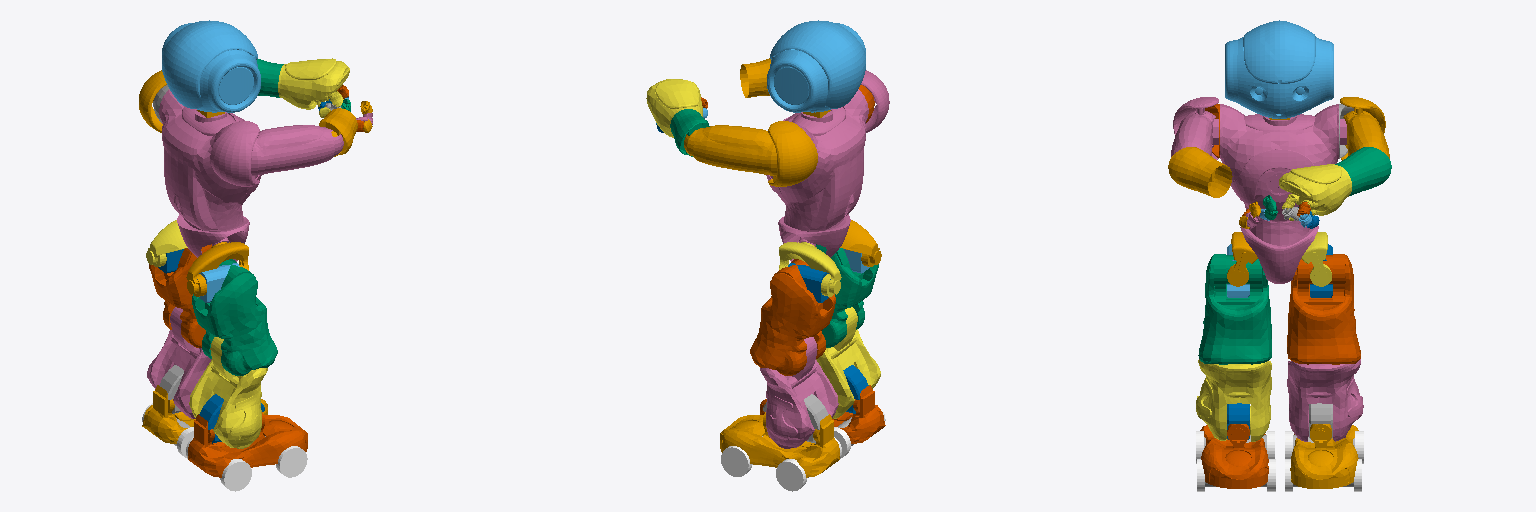
--- Render facts (derived) ---
3 views of the same robot in one strip: view 1: azimuth 30°, elevation 25°; view 2: azimuth 150°, elevation 25°; view 3: azimuth 270°, elevation 25° (orthographic).
Robot: nao — 96 links, 95 joints (26 revolute, 8 continuous, 61 fixed); root link nao_2/base_link; default pose: all joints at 0 but 2 set to mid-range because 0 is outside their limits (nao_2/LElbowRoll = -0.7898, nao_2/RElbowRoll = 0.7898).
Visible links, largest first — view 1: nao_2/torso, nao_2/Head, nao_2/RBicep, nao_2/RThigh, nao_2/RTibia, nao_2/r_ankle, nao_2/l_wrist, nao_2/LTibia, nao_2/LThigh, nao_2/l_ankle, nao_2/RPelvis, nao_2/LPelvis (+7 smaller); view 2: nao_2/torso, nao_2/Head, nao_2/LBicep, nao_2/LThigh, nao_2/LTibia, nao_2/l_ankle, nao_2/RTibia, nao_2/RThigh, nao_2/l_wrist, nao_2/r_ankle, nao_2/LPelvis, nao_2/RPelvis (+7 smaller); view 3: nao_2/torso, nao_2/Head, nao_2/LThigh, nao_2/RThigh, nao_2/RTibia, nao_2/LTibia, nao_2/r_ankle, nao_2/l_ankle, nao_2/l_wrist, nao_2/RForeArm, nao_2/LBicep, nao_2/RBicep (+3 smaller).
Link boxes in pixels (box(x1,y1,x2,y2)): nao_2/torso: box(159, 89, 261, 261); nao_2/Head: box(162, 20, 260, 112); nao_2/RBicep: box(210, 121, 343, 186); nao_2/RThigh: box(192, 259, 277, 375); nao_2/RTibia: box(189, 337, 267, 448); nao_2/r_ankle: box(188, 412, 307, 477); nao_2/l_wrist: box(278, 58, 349, 109); nao_2/LTibia: box(147, 307, 211, 418); nao_2/LThigh: box(149, 244, 211, 347); nao_2/l_ankle: box(142, 385, 267, 443); nao_2/RPelvis: box(186, 242, 248, 296); nao_2/LPelvis: box(146, 220, 187, 266); nao_2/torso: box(766, 89, 868, 261); nao_2/Head: box(767, 20, 865, 112); nao_2/LBicep: box(684, 121, 817, 186); nao_2/LThigh: box(750, 259, 835, 375); nao_2/LTibia: box(760, 337, 838, 448); nao_2/l_ankle: box(720, 412, 839, 477); nao_2/RTibia: box(816, 307, 880, 418); nao_2/RThigh: box(816, 244, 878, 347); nao_2/l_wrist: box(646, 79, 702, 137); nao_2/r_ankle: box(760, 385, 885, 443); nao_2/LPelvis: box(779, 242, 841, 296); nao_2/RPelvis: box(840, 220, 881, 266); nao_2/torso: box(1212, 104, 1346, 283); nao_2/Head: box(1225, 20, 1333, 118); nao_2/LThigh: box(1287, 254, 1360, 364); nao_2/RThigh: box(1198, 254, 1271, 364); nao_2/RTibia: box(1196, 359, 1271, 441); nao_2/LTibia: box(1287, 359, 1363, 441); nao_2/r_ankle: box(1200, 424, 1268, 488); nao_2/l_ankle: box(1290, 424, 1358, 488); nao_2/l_wrist: box(1279, 164, 1351, 215); nao_2/RForeArm: box(1168, 147, 1232, 197); nao_2/LBicep: box(1340, 97, 1389, 160); nao_2/RBicep: box(1171, 97, 1218, 159).
Bounding box of the posed robot: 0.2792 × 0.2719 × 0.594 m (x, y, z).
38 mesh visuals loaded from 39 distinct referenced files (38 Collada DAE); not drawn: 1 (reference not matched to a file when rendering).

robot.urdf — nao:
<?xml version="1.0" encoding="utf-8"?>
<!-- =================================================================================== -->
<!-- |    This document was autogenerated by xacro from nao_robot.xacro                | -->
<!-- |    EDITING THIS FILE BY HAND IS NOT RECOMMENDED                                 | -->
<!-- =================================================================================== -->
<!--******************************************************************
 ****** File automatically generated by generate_urdf.py script ******
 *********************************************************************-->
<robot name="nao">
  <joint name="nao_2/HeadYaw" type="revolute">
    <parent link="nao_2/torso"/>
    <child link="nao_2/Neck"/>
    <origin rpy="0 0 0" xyz="0 0 0.1265"/>
    <axis xyz="0 0 1.0"/>
    <limit effort="1.547" lower="-2.08567" upper="2.08567" velocity="8.26797"/>
  </joint>
  <link name="nao_2/Neck">
    <inertial>
      <mass value="0.06442"/>
      <inertia ixx="2.65584e-05" ixy="1.57e-09" ixz="0" iyy="2.75654e-05" iyz="-5.295e-08" izz="5.53372e-06"/>
      <origin rpy="0 0 0" xyz="-1e-05 0 -0.02742"/>
    </inertial>
    <visual>
      <geometry>
        <mesh filename="package://nao_description/nao_meshes/meshes/V40/HeadYaw.dae" scale="0.1 0.1 0.1"/>
      </geometry>
      <origin rpy="0 0 0" xyz="0 0 0"/>
    </visual>
    <collision>
      <geometry>
        <mesh filename="package://nao_description/nao_meshes/meshes/V40/HeadYaw_0.10.stl" scale="0.1 0.1 0.1"/>
      </geometry>
      <origin rpy="0 0 0" xyz="0 0 0"/>
    </collision>
  </link>
  <joint name="nao_2/HeadPitch" type="revolute">
    <parent link="nao_2/Neck"/>
    <child link="nao_2/Head"/>
    <origin rpy="0 0 0" xyz="0 0 0"/>
    <axis xyz="0 1.0 0"/>
    <limit effort="1.532" lower="-0.671952" upper="0.514872" velocity="7.19407"/>
  </joint>
  <link name="nao_2/Head">
    <inertial>
      <mass value="0.60533"/>
      <inertia ixx="0.000957766" ixy="8.78814e-06" ixz="5.33702e-06" iyy="0.000816836" iyz="-2.99579e-05" izz="0.000984976"/>
      <origin rpy="0 0 0" xyz="-0.00112 0 0.05258"/>
    </inertial>
    <visual>
      <geometry>
        <mesh filename="package://nao_description/nao_meshes/meshes/V40/HeadPitch.dae" scale="0.1 0.1 0.1"/>
      </geometry>
      <origin rpy="0 0 0" xyz="0 0 0"/>
    </visual>
    <collision>
      <geometry>
        <mesh filename="package://nao_description/nao_meshes/meshes/V40/HeadPitch_0.10.stl" scale="0.1 0.1 0.1"/>
      </geometry>
      <origin rpy="0 0 0" xyz="0 0 0"/>
    </collision>
  </link>
  <joint name="nao_2/gaze_joint" type="fixed">
    <parent link="nao_2/Head"/>
    <child link="nao_2/gaze"/>
    <origin rpy="0 0 0" xyz="0.05871 0 0.06364"/>
  </joint>
  <link name="nao_2/gaze"/>
  <joint name="nao_2/LHipYawPitch" type="revolute">
    <parent link="nao_2/torso"/>
    <child link="nao_2/LPelvis"/>
    <origin rpy="0 0 0" xyz="0 0.05 -0.085"/>
    <axis xyz="0 0.707106 -0.707106"/>
    <limit effort="3.348" lower="-1.14529" upper="0.740718" velocity="4.16174"/>
  </joint>
  <link name="nao_2/LPelvis">
    <inertial>
      <mass value="0.06981"/>
      <inertia ixx="2.3407e-05" ixy="1.07922e-06" ixz="-1.76003e-06" iyy="4.76355e-05" iyz="2.76058e-06" izz="4.97021e-05"/>
      <origin rpy="0 0 0" xyz="-0.00781 -0.01114 0.02661"/>
    </inertial>
    <visual>
      <geometry>
        <mesh filename="package://nao_description/nao_meshes/meshes/V40/LHipYawPitch.dae" scale="0.1 0.1 0.1"/>
      </geometry>
      <origin rpy="0 0 0" xyz="0 0 0"/>
    </visual>
    <collision>
      <geometry>
        <mesh filename="package://nao_description/nao_meshes/meshes/V40/LHipYawPitch_0.10.stl" scale="0.1 0.1 0.1"/>
      </geometry>
      <origin rpy="0 0 0" xyz="0 0 0"/>
    </collision>
  </link>
  <joint name="nao_2/LHipRoll" type="revolute">
    <parent link="nao_2/LPelvis"/>
    <child link="nao_2/LHip"/>
    <origin rpy="0 0 0" xyz="0 0 0"/>
    <axis xyz="1.0 0 0"/>
    <limit effort="3.348" lower="-0.379435" upper="0.79046" velocity="4.16174"/>
  </joint>
  <link name="nao_2/LHip">
    <inertial>
      <mass value="0.13053"/>
      <inertia ixx="2.41106e-05" ixy="-6.08684e-07" ixz="6.33119e-06" iyy="6.34892e-05" iyz="-1.99137e-07" izz="5.67694e-05"/>
      <origin rpy="0 0 0" xyz="-0.01549 0.00029 -0.00515"/>
    </inertial>
    <visual>
      <geometry>
        <mesh filename="package://nao_description/nao_meshes/meshes/V40/LHipRoll.dae" scale="0.1 0.1 0.1"/>
      </geometry>
      <origin rpy="0 0 0" xyz="0 0 0"/>
    </visual>
    <collision>
      <geometry>
        <mesh filename="package://nao_description/nao_meshes/meshes/V40/LHipRoll_0.10.stl" scale="0.1 0.1 0.1"/>
      </geometry>
      <origin rpy="0 0 0" xyz="0 0 0"/>
    </collision>
  </link>
  <joint name="nao_2/LHipPitch" type="revolute">
    <parent link="nao_2/LHip"/>
    <child link="nao_2/LThigh"/>
    <origin rpy="0 0 0" xyz="0 0 0"/>
    <axis xyz="0 1.0 0"/>
    <limit effort="3.023" lower="-1.53589" upper="0.48398" velocity="6.40239"/>
  </joint>
  <link name="nao_2/LThigh">
    <inertial>
      <mass value="0.38968"/>
      <inertia ixx="0.000509844" ixy="2.11296e-06" ixz="5.64129e-05" iyy="0.000465358" iyz="-7.91029e-06" izz="0.000301098"/>
      <origin rpy="0 0 0" xyz="0.00138 0.00221 -0.05373"/>
    </inertial>
    <visual>
      <geometry>
        <mesh filename="package://nao_description/nao_meshes/meshes/V40/LHipPitch.dae" scale="0.1 0.1 0.1"/>
      </geometry>
      <origin rpy="0 0 0" xyz="0 0 0"/>
    </visual>
    <collision>
      <geometry>
        <mesh filename="package://nao_description/nao_meshes/meshes/V40/LHipPitch_0.10.stl" scale="0.1 0.1 0.1"/>
      </geometry>
      <origin rpy="0 0 0" xyz="0 0 0"/>
    </collision>
  </link>
  <joint name="nao_2/LKneePitch" type="revolute">
    <parent link="nao_2/LThigh"/>
    <child link="nao_2/LTibia"/>
    <origin rpy="0 0 0" xyz="0 0 -0.1"/>
    <axis xyz="0 1.0 0"/>
    <limit effort="3.023" lower="-0.0923279" upper="2.11255" velocity="6.40239"/>
  </joint>
  <link name="nao_2/LTibia">
    <inertial>
      <mass value="0.29142"/>
      <inertia ixx="0.000470586" ixy="3.60392e-06" ixz="-2.86648e-05" iyy="0.000412654" iyz="7.13013e-06" izz="0.000185772"/>
      <origin rpy="0 0 0" xyz="0.00453 0.00225 -0.04936"/>
    </inertial>
    <visual>
      <geometry>
        <mesh filename="package://nao_description/nao_meshes/meshes/V40/LKneePitch.dae" scale="0.1 0.1 0.1"/>
      </geometry>
      <origin rpy="0 0 0" xyz="0 0 0"/>
    </visual>
    <collision>
      <geometry>
        <mesh filename="package://nao_description/nao_meshes/meshes/V40/LKneePitch_0.10.stl" scale="0.1 0.1 0.1"/>
      </geometry>
      <origin rpy="0 0 0" xyz="0 0 0"/>
    </collision>
  </link>
  <joint name="nao_2/LAnklePitch" type="revolute">
    <parent link="nao_2/LTibia"/>
    <child link="nao_2/LAnklePitch"/>
    <origin rpy="0 0 0" xyz="0 0 -0.1029"/>
    <axis xyz="0 1.0 0"/>
    <limit effort="3.023" lower="-1.18944" upper="0.922581" velocity="6.40239"/>
  </joint>
  <link name="nao_2/LAnklePitch">
    <inertial>
      <mass value="0.13416"/>
      <inertia ixx="3.22034e-05" ixy="-8.83212e-09" ixz="4.27549e-06" iyy="6.7943e-05" iyz="2.84849e-07" izz="5.48269e-05"/>
      <origin rpy="0 0 0" xyz="0.00045 0.00029 0.00685"/>
    </inertial>
    <visual>
      <geometry>
        <mesh filename="package://nao_description/nao_meshes/meshes/V40/LAnklePitch.dae" scale="0.1 0.1 0.1"/>
      </geometry>
      <origin rpy="0 0 0" xyz="0 0 0"/>
    </visual>
    <collision>
      <geometry>
        <mesh filename="package://nao_description/nao_meshes/meshes/V40/LAnklePitch_0.10.stl" scale="0.1 0.1 0.1"/>
      </geometry>
      <origin rpy="0 0 0" xyz="0 0 0"/>
    </collision>
  </link>
  <joint name="nao_2/LAnkleRoll" type="revolute">
    <parent link="nao_2/LAnklePitch"/>
    <child link="nao_2/l_ankle"/>
    <origin rpy="0 0 0" xyz="0 0 0"/>
    <axis xyz="1.0 0 0"/>
    <limit effort="3.348" lower="-0.397761" upper="0.768992" velocity="4.16174"/>
  </joint>
  <link name="nao_2/l_ankle">
    <inertial>
      <mass value="0.16184"/>
      <inertia ixx="9.78911e-05" ixy="7.88039e-06" ixz="6.1279e-06" iyy="0.000369977" iyz="1.44233e-06" izz="0.000419417"/>
      <origin rpy="0 0 0" xyz="0.02542 0.0033 -0.03239"/>
    </inertial>
    <visual>
      <geometry>
        <mesh filename="package://nao_description/nao_meshes/meshes/V40/LAnkleRoll.dae" scale="0.1 0.1 0.1"/>
      </geometry>
      <origin rpy="0 0 0" xyz="0 0 0"/>
    </visual>
    <collision>
      <geometry>
        <mesh filename="package://nao_description/nao_meshes/meshes/V40/LAnkleRoll_0.10.stl" scale="0.1 0.1 0.1"/>
      </geometry>
      <origin rpy="0 0 0" xyz="0 0 0"/>
    </collision>
  </link>
  <joint name="nao_2/LLeg_effector_fixedjoint" type="fixed">
    <parent link="nao_2/l_ankle"/>
    <child link="nao_2/l_sole"/>
    <origin rpy="0 0 0" xyz="0 0 -0.04511"/>
    <axis xyz="0 0 0"/>
  </joint>
  <link name="nao_2/l_sole"/>
  <joint name="nao_2/base_left_motor_joint" type="fixed">
    <origin rpy="0 0 0" xyz="-0.02 0 0"/>
    <parent link="nao_2/l_sole"/>
    <child link="nao_2/left_motor"/>
  </joint>
  <link name="nao_2/left_motor">
    <inertial>
      <origin xyz="0.0 0 0"/>
      <mass value="0.1"/>
      <inertia ixx="0.001" ixy="0.0" ixz="0.0" iyy="0.001" iyz="0.0" izz="0.001"/>
    </inertial>
    <visual>
      <origin rpy="1.5707 0 0" xyz="0 0.005 0"/>
      <geometry>
        <cylinder length="0.078" radius="0.015"/>
      </geometry>
      <material name="gray">
        <color rgba="0.75 0.75 0.75 1"/>
      </material>
    </visual>
    <collision>
      <origin rpy="1.5707 0 0" xyz="0 0 0"/>
      <geometry>
        <cylinder length="0.078" radius="0.015"/>
      </geometry>
    </collision>
  </link>
  <joint name="nao_2/left_wheel_joint_r" type="continuous">
    <origin rpy="0 0 0" xyz="0 -0.039 0"/>
    <parent link="nao_2/left_motor"/>
    <child link="nao_2/left_wheel_link_r"/>
    <axis xyz="0 1 0"/>
  </joint>
  <link name="nao_2/left_wheel_link_r">
    <inertial>
      <origin xyz="0 0 0"/>
      <mass value="0.01"/>
      <inertia ixx="0.001" ixy="0.0" ixz="0.0" iyy="0.001" iyz="0.0" izz="0.001"/>
    </inertial>
    <visual>
      <origin rpy="1.5707 0 0" xyz="0 0 0"/>
      <geometry>
        <cylinder length="0.01" radius="0.02"/>
      </geometry>
      <material name="gray">
        <color rgba="1 1 1 0.9"/>
      </material>
    </visual>
    <collision>
      <origin rpy="1.5707 0 0" xyz="0 0 0"/>
      <geometry>
        <cylinder length="0.01" radius="0.02"/>
      </geometry>
    </collision>
  </link>
  <joint name="nao_2/left_wheel_joint_l" type="continuous">
    <origin rpy="0 0 0" xyz="0 0.047 0"/>
    <parent link="nao_2/left_motor"/>
    <child link="nao_2/left_wheel_link_l"/>
    <axis xyz="0 1 0"/>
  </joint>
  <link name="nao_2/left_wheel_link_l">
    <inertial>
      <origin xyz="0 0 0"/>
      <mass value="0.01"/>
      <inertia ixx="0.001" ixy="0.0" ixz="0.0" iyy="0.001" iyz="0.0" izz="0.001"/>
    </inertial>
    <visual>
      <origin rpy="1.5707 0 0" xyz="0 0 0"/>
      <geometry>
        <cylinder length="0.01" radius="0.02"/>
      </geometry>
      <material name="gray">
        <color rgba="1 1 1 0.9"/>
      </material>
    </visual>
    <collision>
      <origin rpy="1.5707 0 0" xyz="0 0 0"/>
      <geometry>
        <cylinder length="0.01" radius="0.02"/>
      </geometry>
    </collision>
  </link>
  <joint name="nao_2/front_left_motor_joint" type="fixed">
    <origin rpy="0 0 0" xyz="0.06 0 0"/>
    <parent link="nao_2/l_sole"/>
    <child link="nao_2/front_left_motor"/>
  </joint>
  <link name="nao_2/front_left_motor">
    <inertial>
      <origin xyz="0.0 0 0"/>
      <mass value="0.1"/>
      <inertia ixx="0.00001" ixy="0.0" ixz="0.0" iyy="0.00001" iyz="0.0" izz="0.00001"/>
    </inertial>
    <visual>
      <origin rpy="1.5707 0 0" xyz="0 0.003 0"/>
      <geometry>
        <cylinder length="0.08" radius="0.015"/>
      </geometry>
      <material name="gray">
        <color rgba="0.75 0.75 0.75 1"/>
      </material>
    </visual>
    <collision>
      <origin rpy="1.5707 0 0" xyz="0 0 0"/>
      <geometry>
        <cylinder length="0.078" radius="0.015"/>
      </geometry>
    </collision>
  </link>
  <joint name="nao_2/front_left_wheel_joint_r" type="continuous">
    <origin rpy="0 0 0" xyz="0 -0.039 0"/>
    <parent link="nao_2/front_left_motor"/>
    <child link="nao_2/front_left_wheel_link_r"/>
    <axis xyz="0 1 0"/>
  </joint>
  <link name="nao_2/front_left_wheel_link_r">
    <inertial>
      <origin xyz="0 0 0"/>
      <mass value="0.01"/>
      <inertia ixx="0.001" ixy="0.0" ixz="0.0" iyy="0.001" iyz="0.0" izz="0.001"/>
    </inertial>
    <visual>
      <origin rpy="1.5707 0 0" xyz="0 0 0"/>
      <geometry>
        <cylinder length="0.01" radius="0.02"/>
      </geometry>
      <material name="gray">
        <color rgba="1 1 1 0.9"/>
      </material>
    </visual>
    <collision>
      <origin rpy="1.5707 0 0" xyz="0 0 0"/>
      <geometry>
        <cylinder length="0.01" radius="0.02"/>
      </geometry>
    </collision>
  </link>
  <joint name="nao_2/front_left_wheel_joint_l" type="continuous">
    <origin rpy="0 0 0" xyz="0 0.045 0"/>
    <parent link="nao_2/front_left_motor"/>
    <child link="nao_2/front_left_wheel_link_l"/>
    <axis xyz="0 1 0"/>
  </joint>
  <link name="nao_2/front_left_wheel_link_l">
    <inertial>
      <origin xyz="0 0 0"/>
      <mass value="0.01"/>
      <inertia ixx="0.00001" ixy="0.0" ixz="0.0" iyy="0.00001" iyz="0.0" izz="0.00001"/>
    </inertial>
    <visual>
      <origin rpy="1.5707 0 0" xyz="0 0 0"/>
      <geometry>
        <cylinder length="0.01" radius="0.02"/>
      </geometry>
      <material name="gray">
        <color rgba="1 1 1 0.9"/>
      </material>
    </visual>
    <collision>
      <origin rpy="1.5707 0 0" xyz="0 0 0"/>
      <geometry>
        <cylinder length="0.01" radius="0.02"/>
      </geometry>
    </collision>
  </link>
  <joint name="nao_2/RHipYawPitch" type="revolute">
    <parent link="nao_2/torso"/>
    <child link="nao_2/RPelvis"/>
    <origin rpy="0 0 0" xyz="0 -0.05 -0.085"/>
    <axis xyz="0 0.707106 0.707106"/>
    <limit effort="3.348" lower="-1.14529" upper="0.740718" velocity="4.16174"/>
    <mimic joint="nao_2/LHipYawPitch" multiplier="1.0" offset="0"/>
  </joint>
  <link name="nao_2/RPelvis">
    <inertial>
      <mass value="0.06981"/>
      <inertia ixx="3.18766e-05" ixy="-1.07152e-06" ixz="-1.77295e-06" iyy="5.18361e-05" iyz="-7.00664e-06" izz="5.39657e-05"/>
      <origin rpy="0 0 0" xyz="-0.00781 0.01114 0.02661"/>
    </inertial>
    <visual>
      <geometry>
        <mesh filename="package://nao_description/nao_meshes/meshes/V40/RHipYawPitch.dae" scale="0.1 0.1 0.1"/>
      </geometry>
      <origin rpy="0 0 0" xyz="0 0 0"/>
    </visual>
    <collision>
      <geometry>
        <mesh filename="package://nao_description/nao_meshes/meshes/V40/RHipYawPitch_0.10.stl" scale="0.1 0.1 0.1"/>
      </geometry>
      <origin rpy="0 0 0" xyz="0 0 0"/>
    </collision>
  </link>
  <joint name="nao_2/RHipRoll" type="revolute">
    <parent link="nao_2/RPelvis"/>
    <child link="nao_2/RHip"/>
    <origin rpy="0 0 0" xyz="0 0 0"/>
    <axis xyz="1.0 0 0"/>
    <limit effort="3.348" lower="-0.79046" upper="0.379435" velocity="4.16174"/>
  </joint>
  <link name="nao_2/RHip">
    <inertial>
      <mass value="0.13053"/>
      <inertia ixx="2.41136e-05" ixy="5.67164e-07" ixz="6.30461e-06" iyy="6.34886e-05" iyz="1.97457e-07" izz="5.6773e-05"/>
      <origin rpy="0 0 0" xyz="-0.01549 -0.00029 -0.00515"/>
    </inertial>
    <visual>
      <geometry>
        <mesh filename="package://nao_description/nao_meshes/meshes/V40/RHipRoll.dae" scale="0.1 0.1 0.1"/>
      </geometry>
      <origin rpy="0 0 0" xyz="0 0 0"/>
    </visual>
    <collision>
      <geometry>
        <mesh filename="package://nao_description/nao_meshes/meshes/V40/RHipRoll_0.10.stl" scale="0.1 0.1 0.1"/>
      </geometry>
      <origin rpy="0 0 0" xyz="0 0 0"/>
    </collision>
  </link>
  <joint name="nao_2/RHipPitch" type="revolute">
    <parent link="nao_2/RHip"/>
    <child link="nao_2/RThigh"/>
    <origin rpy="0 0 0" xyz="0 0 0"/>
    <axis xyz="0 1.0 0"/>
    <limit effort="3.0226" lower="-1.53589" upper="0.48398" velocity="6.40239"/>
  </joint>
  <link name="nao_2/RThigh">
    <inertial>
      <mass value="0.38968"/>
      <inertia ixx="0.000510607" ixy="-2.02799e-06" ixz="5.69893e-05" iyy="0.0004665" iyz="7.09563e-06" izz="0.000301333"/>
      <origin rpy="0 0 0" xyz="0.00138 -0.00221 -0.05373"/>
    </inertial>
    <visual>
      <geometry>
        <mesh filename="package://nao_description/nao_meshes/meshes/V40/RHipPitch.dae" scale="0.1 0.1 0.1"/>
      </geometry>
      <origin rpy="0 0 0" xyz="0 0 0"/>
    </visual>
    <collision>
      <geometry>
        <mesh filename="package://nao_description/nao_meshes/meshes/V40/RHipPitch_0.10.stl" scale="0.1 0.1 0.1"/>
      </geometry>
      <origin rpy="0 0 0" xyz="0 0 0"/>
    </collision>
  </link>
  <joint name="nao_2/RKneePitch" type="revolute">
    <parent link="nao_2/RThigh"/>
    <child link="nao_2/RTibia"/>
    <origin rpy="0 0 0" xyz="0 0 -0.1"/>
    <axis xyz="0 1.0 0"/>
    <limit effort="3.0226" lower="-0.0923279" upper="2.11255" velocity="6.40239"/>
  </joint>
  <link name="nao_2/RTibia">
    <inertial>
      <mass value="0.29142"/>
      <inertia ixx="0.000471336" ixy="-3.8668e-06" ixz="-3.71648e-05" iyy="0.00041228" iyz="-6.11093e-06" izz="0.000183997"/>
      <origin rpy="0 0 0" xyz="0.00453 -0.00225 -0.04936"/>
    </inertial>
    <visual>
      <geometry>
        <mesh filename="package://nao_description/nao_meshes/meshes/V40/RKneePitch.dae" scale="0.1 0.1 0.1"/>
      </geometry>
      <origin rpy="0 0 0" xyz="0 0 0"/>
    </visual>
    <collision>
      <geometry>
        <mesh filename="package://nao_description/nao_meshes/meshes/V40/RKneePitch_0.10.stl" scale="0.1 0.1 0.1"/>
      </geometry>
      <origin rpy="0 0 0" xyz="0 0 0"/>
    </collision>
  </link>
  <joint name="nao_2/RAnklePitch" type="revolute">
    <parent link="nao_2/RTibia"/>
    <child link="nao_2/RAnklePitch"/>
    <origin rpy="0 0 0" xyz="0 0 -0.1029"/>
    <axis xyz="0 1.0 0"/>
    <limit effort="3.0226" lower="-1.1863" upper="0.932006" velocity="6.40239"/>
  </joint>
  <link name="nao_2/RAnklePitch">
    <inertial>
      <mass value="0.13416"/>
      <inertia ixx="3.22017e-05" ixy="4.68321e-08" ixz="4.28821e-06" iyy="6.79885e-05" iyz="-2.71089e-07" izz="5.48747e-05"/>
      <origin rpy="0 0 0" xyz="0.00045 -0.00029 0.00685"/>
    </inertial>
    <visual>
      <geometry>
        <mesh filename="package://nao_description/nao_meshes/meshes/V40/RAnklePitch.dae" scale="0.1 0.1 0.1"/>
      </geometry>
      <origin rpy="0 0 0" xyz="0 0 0"/>
    </visual>
    <collision>
      <geometry>
        <mesh filename="package://nao_description/nao_meshes/meshes/V40/RAnklePitch_0.10.stl" scale="0.1 0.1 0.1"/>
      </geometry>
      <origin rpy="0 0 0" xyz="0 0 0"/>
    </collision>
  </link>
  <joint name="nao_2/RAnkleRoll" type="revolute">
    <parent link="nao_2/RAnklePitch"/>
    <child link="nao_2/r_ankle"/>
    <origin rpy="0 0 0" xyz="0 0 0"/>
    <axis xyz="1.0 0 0"/>
    <limit effort="3.348" lower="-0.768992" upper="0.397761" velocity="4.16174"/>
  </joint>
  <link name="nao_2/r_ankle">
    <inertial>
      <mass value="0.16184"/>
      <inertia ixx="9.77513e-05" ixy="-7.70106e-06" ixz="5.88169e-06" iyy="0.000369108" iyz="-1.55058e-06" izz="0.000418695"/>
      <origin rpy="0 0 0" xyz="0.02542 -0.0033 -0.03239"/>
    </inertial>
    <visual>
      <geometry>
        <mesh filename="package://nao_description/nao_meshes/meshes/V40/RAnkleRoll.dae" scale="0.1 0.1 0.1"/>
      </geometry>
      <origin rpy="0 0 0" xyz="0 0 0"/>
    </visual>
    <collision>
      <geometry>
        <mesh filename="package://nao_description/nao_meshes/meshes/V40/RAnkleRoll_0.10.stl" scale="0.1 0.1 0.1"/>
      </geometry>
      <origin rpy="0 0 0" xyz="0 0 0"/>
    </collision>
  </link>
  <joint name="nao_2/RLeg_effector_fixedjoint" type="fixed">
    <parent link="nao_2/r_ankle"/>
    <child link="nao_2/r_sole"/>
    <origin rpy="0 0 0" xyz="0 0 -0.04511"/>
    <axis xyz="0 0 0"/>
  </joint>
  <link name="nao_2/r_sole"/>
  <joint name="nao_2/base_right_motor_joint" type="fixed">
    <origin rpy="0 0 0" xyz="-0.02 0 0"/>
    <parent link="nao_2/r_sole"/>
    <child link="nao_2/right_motor"/>
  </joint>
  <link name="nao_2/right_motor">
    <inertial>
      <origin xyz="0.0 0 0"/>
      <mass value="0.1"/>
      <inertia ixx="0.001" ixy="0.0" ixz="0.0" iyy="0.001" iyz="0.0" izz="0.001"/>
    </inertial>
    <visual>
      <origin rpy="1.5707 0 0" xyz="0 -0.003 0"/>
      <geometry>
        <cylinder length="0.078" radius="0.015"/>
      </geometry>
      <material name="gray">
        <color rgba="0.75 0.75 0.75 1"/>
      </material>
    </visual>
    <collision>
      <origin rpy="1.5707 0 0" xyz="0 0 0"/>
      <geometry>
        <cylinder length="0.078" radius="0.015"/>
      </geometry>
    </collision>
  </link>
  <joint name="nao_2/right_wheel_joint_r" type="continuous">
    <origin rpy="0 0 0" xyz="0 -0.0498 0"/>
    <parent link="nao_2/right_motor"/>
    <child link="nao_2/right_wheel_link_r"/>
    <axis xyz="0 1 0"/>
  </joint>
  <link name="nao_2/right_wheel_link_r">
    <inertial>
      <origin xyz="0 0 0"/>
      <mass value="0.01"/>
      <inertia ixx="0.001" ixy="0.0" ixz="0.0" iyy="0.001" iyz="0.0" izz="0.001"/>
    </inertial>
    <visual>
      <origin rpy="1.5707 0 0" xyz="0 0.003 0"/>
      <geometry>
        <cylinder length="0.01" radius="0.02"/>
      </geometry>
      <material name="gray">
        <color rgba="1 1 1 0.9"/>
      </material>
    </visual>
    <collision>
      <origin rpy="1.5707 0 0" xyz="0 0 0"/>
      <geometry>
        <cylinder length="0.01" radius="0.02"/>
      </geometry>
    </collision>
  </link>
  <joint name="nao_2/right_wheel_joint_l" type="continuous">
    <origin rpy="0 0 0" xyz="0 0.039 0"/>
    <parent link="nao_2/right_motor"/>
    <child link="nao_2/right_wheel_link_l"/>
    <axis xyz="0 1 0"/>
  </joint>
  <link name="nao_2/right_wheel_link_l">
    <inertial>
      <origin xyz="0 0 0"/>
      <mass value="0.01"/>
      <inertia ixx="0.001" ixy="0.0" ixz="0.0" iyy="0.001" iyz="0.0" izz="0.001"/>
    </inertial>
    <visual>
      <origin rpy="1.5707 0 0" xyz="0 0 0"/>
      <geometry>
        <cylinder length="0.01" radius="0.02"/>
      </geometry>
      <material name="gray">
        <color rgba="1 1 1 0.9"/>
      </material>
    </visual>
    <collision>
      <origin rpy="1.5707 0 0" xyz="0 0 0"/>
      <geometry>
        <cylinder length="0.01" radius="0.02"/>
      </geometry>
    </collision>
  </link>
  <joint name="nao_2/front_right_motor_joint" type="fixed">
    <origin rpy="0 0 0" xyz="0.06 0 0"/>
    <parent link="nao_2/r_sole"/>
    <child link="nao_2/front_right_motor"/>
  </joint>
  <link name="nao_2/front_right_motor">
    <inertial>
      <origin xyz="0.0 0 0"/>
      <mass value="0.1"/>
      <inertia ixx="0.00001" ixy="0.0" ixz="0.0" iyy="0.00001" iyz="0.0" izz="0.00001"/>
    </inertial>
    <visual>
      <origin rpy="1.5707 0 0" xyz="0 -0.003 0"/>
      <geometry>
        <cylinder length="0.08" radius="0.015"/>
      </geometry>
      <material name="gray">
        <color rgba="0.75 0.75 0.75 1"/>
      </material>
    </visual>
    <collision>
      <origin rpy="1.5707 0 0" xyz="0 0 0"/>
      <geometry>
        <cylinder length="0.078" radius="0.015"/>
      </geometry>
    </collision>
  </link>
  <joint name="nao_2/front_right_wheel_joint_r" type="continuous">
    <origin rpy="0 0 0" xyz="0 -0.046 0"/>
    <parent link="nao_2/front_right_motor"/>
    <child link="nao_2/front_right_wheel_link_r"/>
    <axis xyz="0 1 0"/>
  </joint>
  <link name="nao_2/front_right_wheel_link_r">
    <inertial>
      <origin xyz="0 0 0"/>
      <mass value="0.01"/>
      <inertia ixx="0.001" ixy="0.0" ixz="0.0" iyy="0.001" iyz="0.0" izz="0.001"/>
    </inertial>
    <visual>
      <origin rpy="1.5707 0 0" xyz="0 0 0"/>
      <geometry>
        <cylinder length="0.01" radius="0.02"/>
      </geometry>
      <material name="gray">
        <color rgba="1 1 1 0.9"/>
      </material>
    </visual>
    <collision>
      <origin rpy="1.5707 0 0" xyz="0 0 0"/>
      <geometry>
        <cylinder length="0.01" radius="0.02"/>
      </geometry>
    </collision>
  </link>
  <joint name="nao_2/front_right_wheel_joint_l" type="continuous">
    <origin rpy="0 0 0" xyz="0 0.040 0"/>
    <parent link="nao_2/front_right_motor"/>
    <child link="nao_2/front_right_wheel_link_l"/>
    <axis xyz="0 1 0"/>
  </joint>
  <link name="nao_2/front_right_wheel_link_l">
    <inertial>
      <origin xyz="0 0 0"/>
      <mass value="0.01"/>
      <inertia ixx="0.00001" ixy="0.0" ixz="0.0" iyy="0.00001" iyz="0.0" izz="0.00001"/>
    </inertial>
    <visual>
      <origin rpy="1.5707 0 0" xyz="0 0 0"/>
      <geometry>
        <cylinder length="0.01" radius="0.02"/>
      </geometry>
      <material name="gray">
        <color rgba="1 1 1 0.9"/>
      </material>
    </visual>
    <collision>
      <origin rpy="1.5707 0 0" xyz="0 0 0"/>
      <geometry>
        <cylinder length="0.01" radius="0.02"/>
      </geometry>
    </collision>
  </link>
  <link name="nao_2/base_link"/>
  <joint name="nao_2/base_link_fixedjoint" type="fixed">
    <parent link="nao_2/base_link"/>
    <child link="nao_2/torso"/>
    <origin rpy="0 0 0" xyz="0 0 0"/>
    <axis xyz="0 0 0"/>
  </joint>
  <link name="nao_2/torso">
    <inertial>
      <mass value="1.04956"/>
      <inertia ixx="0.00308361" ixy="1.43116e-05" ixz="-3.30211e-05" iyy="0.0028835" iyz="-2.70793e-05" izz="0.0015924"/>
      <origin rpy="0 0 0" xyz="-0.00413 0 0.04342"/>
    </inertial>
    <visual>
      <geometry>
        <mesh filename="package://nao_description/nao_meshes/meshes/V40/Torso.dae" scale="0.1 0.1 0.1"/>
      </geometry>
      <origin rpy="0 0 0" xyz="0 0 0"/>
    </visual>
    <collision>
      <geometry>
        <mesh filename="package://nao_description/nao_meshes/meshes/V40/Torso_0.10.stl" scale="0.1 0.1 0.1"/>
      </geometry>
      <origin rpy="0 0 0" xyz="0 0 0"/>
    </collision>
  </link>
  <joint name="nao_2/LShoulderPitch" type="revolute">
    <parent link="nao_2/torso"/>
    <child link="nao_2/LShoulder"/>
    <origin rpy="0 0 0" xyz="0 0.098 0.1"/>
    <axis xyz="0 1.0 0"/>
    <limit effort="1.329" lower="-2.08567" upper="2.08567" velocity="8.26797"/>
  </joint>
  <link name="nao_2/LShoulder">
    <inertial>
      <mass value="0.07504"/>
      <inertia ixx="3.10677e-05" ixy="1.2692e-06" ixz="6.04576e-09" iyy="1.39498e-05" iyz="-2.99484e-07" izz="3.30001e-05"/>
      <origin rpy="0 0 0" xyz="-0.00165 -0.02663 0.00014"/>
    </inertial>
    <visual>
      <geometry>
        <mesh filename="package://nao_description/nao_meshes/meshes/V40/LShoulderPitch.dae" scale="0.1 0.1 0.1"/>
      </geometry>
      <origin rpy="0 0 0" xyz="0 0 0"/>
    </visual>
    <collision>
      <geometry>
        <mesh filename="package://nao_description/nao_meshes/meshes/V40/LShoulderPitch_0.10.stl" scale="0.1 0.1 0.1"/>
      </geometry>
      <origin rpy="0 0 0" xyz="0 0 0"/>
    </collision>
  </link>
  <joint name="nao_2/LShoulderRoll" type="revolute">
    <parent link="nao_2/LShoulder"/>
    <child link="nao_2/LBicep"/>
    <origin rpy="0 0 0" xyz="0 0 0"/>
    <axis xyz="0 0 1.0"/>
    <limit effort="1.7835" lower="-0.314159" upper="1.32645" velocity="7.19407"/>
  </joint>
  <link name="nao_2/LBicep">
    <inertial>
      <mass value="0.15777"/>
      <inertia ixx="8.7181e-05" ixy="-2.53381e-05" ixz="-1.4213e-05" iyy="0.000274712" iyz="4.71439e-07" izz="0.000241812"/>
      <origin rpy="0 0 0" xyz="0.02455 0.00563 0.0033"/>
    </inertial>
    <visual>
      <geometry>
        <mesh filename="package://nao_description/nao_meshes/meshes/V40/LShoulderRoll.dae" scale="0.1 0.1 0.1"/>
      </geometry>
      <origin rpy="0 0 0" xyz="0 0 0"/>
    </visual>
    <collision>
      <geometry>
        <mesh filename="package://nao_description/nao_meshes/meshes/V40/LShoulderRoll_0.10.stl" scale="0.1 0.1 0.1"/>
      </geometry>
      <origin rpy="0 0 0" xyz="0 0 0"/>
    </collision>
  </link>
  <joint name="nao_2/LElbowYaw" type="revolute">
    <parent link="nao_2/LBicep"/>
    <child link="nao_2/LElbow"/>
    <origin rpy="0 0 0" xyz="0.105 0.015 0"/>
    <axis xyz="1.0 0 0"/>
    <limit effort="1.547" lower="-2.08567" upper="2.08567" velocity="8.26797"/>
  </joint>
  <link name="nao_2/LElbow">
    <inertial>
      <mass value="0.06483"/>
      <inertia ixx="5.59588e-06" ixy="4.21e-09" ixz="2.92241e-07" iyy="2.66179e-05" iyz="-1.84e-09" izz="2.76294e-05"/>
      <origin rpy="0 0 0" xyz="-0.02744 0 -0.00014"/>
    </inertial>
  </link>
  <joint name="nao_2/LElbowRoll" type="revolute">
    <parent link="nao_2/LElbow"/>
    <child link="nao_2/LForeArm"/>
    <origin rpy="0 0 0" xyz="0 0 0"/>
    <axis xyz="0 0 1.0"/>
    <limit effort="1.532" lower="-1.54462" upper="-0.0349066" velocity="7.19407"/>
  </joint>
  <link name="nao_2/LForeArm">
    <inertial>
      <mass value="0.07761"/>
      <inertia ixx="2.46746e-05" ixy="3.23152e-06" ixz="1.58221e-06" iyy="3.83837e-05" iyz="1.39194e-07" izz="3.59708e-05"/>
      <origin rpy="0 0 0" xyz="0.02556 0.00281 0.00076"/>
    </inertial>
    <visual>
      <geometry>
        <mesh filename="package://nao_description/nao_meshes/meshes/V40/LElbowRoll.dae" scale="0.1 0.1 0.1"/>
      </geometry>
      <origin rpy="0 0 0" xyz="0 0 0"/>
    </visual>
    <collision>
      <geometry>
        <mesh filename="package://nao_description/nao_meshes/meshes/V40/LElbowRoll_0.10.stl" scale="0.1 0.1 0.1"/>
      </geometry>
      <origin rpy="0 0 0" xyz="0 0 0"/>
    </collision>
  </link>
  <joint name="nao_2/LWristYaw" type="revolute">
    <parent link="nao_2/LForeArm"/>
    <child link="nao_2/l_wrist"/>
    <origin rpy="0 0 0" xyz="0.05595 0 0"/>
    <axis xyz="1.0 0 0"/>
    <limit effort="0.4075" lower="-1.82387" upper="1.82387" velocity="24.6229"/>
  </joint>
  <link name="nao_2/l_wrist">
    <inertial>
      <mass value="0.18533"/>
      <inertia ixx="6.86477e-05" ixy="1.15465e-07" ixz="-2.87254e-06" iyy="0.000135756" iyz="2.67539e-06" izz="0.000133228"/>
      <origin rpy="0 0 0" xyz="0.03434 -0.00088 0.00308"/>
    </inertial>
    <visual>
      <geometry>
        <mesh filename="package://nao_description/nao_meshes/meshes/V40/LWristYaw.dae" scale="0.1 0.1 0.1"/>
      </geometry>
      <origin rpy="0 0 0" xyz="0 0 0"/>
    </visual>
    <collision>
      <geometry>
        <mesh filename="package://nao_description/nao_meshes/meshes/V40/LWristYaw_0.10.stl" scale="0.1 0.1 0.1"/>
      </geometry>
      <origin rpy="0 0 0" xyz="0 0 0"/>
    </collision>
  </link>
  <joint name="nao_2/LHand" type="revolute">
    <parent link="nao_2/l_wrist"/>
    <child link="nao_2/l_gripper"/>
    <origin rpy="0 0 0" xyz="0.05775 0 -0.01231"/>
    <axis xyz="1.0 0 0"/>
    <limit effort="0.292" lower="0" upper="1.0" velocity="8.33"/>
  </joint>
  <link name="nao_2/l_gripper">
    <inertial>
      <mass value="2e-06"/>
      <inertia ixx="1.1e-09" ixy="0" ixz="0" iyy="1.1e-09" iyz="0" izz="1.1e-09"/>
    </inertial>
  </link>
  <joint name="nao_2/RShoulderPitch" type="revolute">
    <parent link="nao_2/torso"/>
    <child link="nao_2/RShoulder"/>
    <origin rpy="0 0 0" xyz="0 -0.098 0.1"/>
    <axis xyz="0 1.0 0"/>
    <limit effort="1.329" lower="-2.08567" upper="2.08567" velocity="8.26797"/>
  </joint>
  <link name="nao_2/RShoulder">
    <inertial>
      <mass value="0.07504"/>
      <inertia ixx="3.10677e-05" ixy="-1.2692e-06" ixz="6.04576e-09" iyy="1.39498e-05" iyz="2.99484e-07" izz="3.30001e-05"/>
      <origin rpy="0 0 0" xyz="-0.00165 0.02663 0.00014"/>
    </inertial>
    <visual>
      <geometry>
        <mesh filename="package://nao_description/nao_meshes/meshes/V40/RShoulderPitch.dae" scale="0.1 0.1 0.1"/>
      </geometry>
      <origin rpy="0 0 0" xyz="0 0 0"/>
    </visual>
    <collision>
      <geometry>
        <mesh filename="package://nao_description/nao_meshes/meshes/V40/RShoulderPitch_0.10.stl" scale="0.1 0.1 0.1"/>
      </geometry>
      <origin rpy="0 0 0" xyz="0 0 0"/>
    </collision>
  </link>
  <joint name="nao_2/RShoulderRoll" type="revolute">
    <parent link="nao_2/RShoulder"/>
    <child link="nao_2/RBicep"/>
    <origin rpy="0 0 0" xyz="0 0 0"/>
    <axis xyz="0 0 1.0"/>
    <limit effort="1.783" lower="-1.32645" upper="0.314159" velocity="7.19407"/>
  </joint>
  <link name="nao_2/RBicep">
    <inertial>
      <mass value="0.15777"/>
      <inertia ixx="0.000103401" ixy="5.48849e-05" ixz="-1.32643e-05" iyy="0.00027077" iyz="9.16707e-06" izz="0.000254529"/>
      <origin rpy="0 0 0" xyz="0.02455 -0.00563 0.0033"/>
    </inertial>
    <visual>
      <geometry>
        <mesh filename="package://nao_description/nao_meshes/meshes/V40/RShoulderRoll.dae" scale="0.1 0.1 0.1"/>
      </geometry>
      <origin rpy="0 0 0" xyz="0 0 0"/>
    </visual>
    <collision>
      <geometry>
        <mesh filename="package://nao_description/nao_meshes/meshes/V40/RShoulderRoll_0.10.stl" scale="0.1 0.1 0.1"/>
      </geometry>
      <origin rpy="0 0 0" xyz="0 0 0"/>
    </collision>
  </link>
  <joint name="nao_2/RElbowYaw" type="revolute">
    <parent link="nao_2/RBicep"/>
    <child link="nao_2/RElbow"/>
    <origin rpy="0 0 0" xyz="0.105 -0.015 0"/>
    <axis xyz="1.0 0 0"/>
    <limit effort="1.547" lower="-2.08567" upper="2.08567" velocity="8.26797"/>
  </joint>
  <link name="nao_2/RElbow">
    <inertial>
      <mass value="0.06483"/>
      <inertia ixx="5.59588e-06" ixy="4.21e-09" ixz="2.92241e-07" iyy="2.66179e-05" iyz="-1.84e-09" izz="2.76294e-05"/>
      <origin rpy="0 0 0" xyz="-0.02744 0 -0.00014"/>
    </inertial>
  </link>
  <joint name="nao_2/RElbowRoll" type="revolute">
    <parent link="nao_2/RElbow"/>
    <child link="nao_2/RForeArm"/>
    <origin rpy="0 0 0" xyz="0 0 0"/>
    <axis xyz="0 0 1.0"/>
    <limit effort="1.532" lower="0.0349066" upper="1.54462" velocity="7.19407"/>
  </joint>
  <link name="nao_2/RForeArm">
    <inertial>
      <mass value="0.07761"/>
      <inertia ixx="2.47331e-05" ixy="-3.2418e-06" ixz="9.06451e-07" iyy="3.84719e-05" iyz="-1.38804e-07" izz="3.59319e-05"/>
      <origin rpy="0 0 0" xyz="0.02556 -0.00281 0.00076"/>
    </inertial>
    <visual>
      <geometry>
        <mesh filename="package://nao_description/nao_meshes/meshes/V40/RElbowRoll.dae" scale="0.1 0.1 0.1"/>
      </geometry>
      <origin rpy="0 0 0" xyz="0 0 0"/>
    </visual>
    <collision>
      <geometry>
        <mesh filename="package://nao_description/nao_meshes/meshes/V40/RElbowRoll_0.10.stl" scale="0.1 0.1 0.1"/>
      </geometry>
      <origin rpy="0 0 0" xyz="0 0 0"/>
    </collision>
  </link>
  <joint name="nao_2/RWristYaw" type="revolute">
    <parent link="nao_2/RForeArm"/>
    <child link="nao_2/r_wrist"/>
    <origin rpy="0 0 0" xyz="0.05595 0 0"/>
    <axis xyz="1.0 0 0"/>
    <limit effort="0.4075" lower="-1.82387" upper="1.82387" velocity="24.6229"/>
  </joint>
  <link name="nao_2/r_wrist">
    <inertial>
      <mass value="0.18533"/>
      <inertia ixx="6.86477e-05" ixy="1.13165e-05" ixz="-2.87254e-06" iyy="0.000135756" iyz="3.68003e-06" izz="0.000133228"/>
      <origin rpy="0 0 0" xyz="0.03434 0.00088 0.00308"/>
    </inertial>
    <visual>
      <geometry>
        <mesh filename="package://nao_description/nao_meshes/meshes/V40/RWristYaw.dae" scale="0.1 0.1 0.1"/>
      </geometry>
      <origin rpy="0 0 0" xyz="0 0 0"/>
    </visual>
    <collision>
      <geometry>
        <mesh filename="package://nao_description/nao_meshes/meshes/V40/RWristYaw_0.10.stl" scale="0.1 0.1 0.1"/>
      </geometry>
      <origin rpy="0 0 0" xyz="0 0 0"/>
    </collision>
  </link>
  <joint name="nao_2/RHand" type="revolute">
    <parent link="nao_2/r_wrist"/>
    <child link="nao_2/r_gripper"/>
    <origin rpy="0 0 0" xyz="0.05775 0 -0.01231"/>
    <axis xyz="1.0 0 0"/>
    <limit effort="0.292" lower="0" upper="1.0" velocity="8.33"/>
  </joint>
  <link name="nao_2/r_gripper">
    <inertial>
      <mass value="2e-06"/>
      <inertia ixx="1.1e-09" ixy="0" ixz="0" iyy="1.1e-09" iyz="0" izz="1.1e-09"/>
    </inertial>
  </link>
  <link name="nao_2/LFootBumperRight_frame"/>
  <joint name="nao_2/LFoot/Bumper/Right_sensor_fixedjoint" type="fixed">
    <parent link="nao_2/l_ankle"/>
    <child link="nao_2/LFootBumperRight_frame"/>
    <origin rpy="0 0 0" xyz="0.0876 -0.014 -0.0353"/>
    <axis xyz="0 0 0"/>
  </joint>
  <link name="nao_2/RFsrRL_frame">
    <collision>
      <geometry>
        <box size="0.01 0.01 0.005"/>
      </geometry>
      <origin rpy="0 0 0" xyz="0 0 0"/>
    </collision>
    <inertial>
      <mass value="2e-06"/>
      <inertia ixx="1.1e-09" ixy="0" ixz="0" iyy="1.1e-09" iyz="0" izz="1.1e-09"/>
    </inertial>
  </link>
  <joint name="nao_2/RFoot/FSR/RearLeft_sensor_fixedjoint" type="fixed">
    <parent link="nao_2/r_ankle"/>
    <child link="nao_2/RFsrRL_frame"/>
    <origin rpy="0 0 0" xyz="-0.03025 0.0191 -0.04511"/>
    <axis xyz="0 0 0"/>
  </joint>
  <link name="nao_2/CameraBottom_optical_frame"/>
  <joint name="nao_2/CameraBottom_optical_frame_fixedjoint" type="fixed">
    <parent link="nao_2/CameraBottom_frame"/>
    <child link="nao_2/CameraBottom_optical_frame"/>
    <origin rpy="-1.57079632679 0 -1.57079632679" xyz="0 0 0"/>
  </joint>
  <link name="nao_2/RFsrRR_frame">
    <collision>
      <geometry>
        <box size="0.01 0.01 0.005"/>
      </geometry>
      <origin rpy="0 0 0" xyz="0 0 0"/>
    </collision>
    <inertial>
      <mass value="2e-06"/>
      <inertia ixx="1.1e-09" ixy="0" ixz="0" iyy="1.1e-09" iyz="0" izz="1.1e-09"/>
    </inertial>
  </link>
  <joint name="nao_2/RFoot/FSR/RearRight_sensor_fixedjoint" type="fixed">
    <parent link="nao_2/r_ankle"/>
    <child link="nao_2/RFsrRR_frame"/>
    <origin rpy="0 0 0" xyz="-0.02965 -0.0299 -0.04511"/>
    <axis xyz="0 0 0"/>
  </joint>
  <link name="nao_2/LFsrFR_frame">
    <collision>
      <geometry>
        <box size="0.01 0.01 0.005"/>
      </geometry>
      <origin rpy="0 0 0" xyz="0 0 0"/>
    </collision>
    <inertial>
      <mass value="2e-06"/>
      <inertia ixx="1.1e-09" ixy="0" ixz="0" iyy="1.1e-09" iyz="0" izz="1.1e-09"/>
    </inertial>
  </link>
  <joint name="nao_2/LFoot/FSR/FrontRight_sensor_fixedjoint" type="fixed">
    <parent link="nao_2/l_ankle"/>
    <child link="nao_2/LFsrFR_frame"/>
    <origin rpy="0 0 0" xyz="0.07025 -0.0231 -0.04511"/>
    <axis xyz="0 0 0"/>
  </joint>
  <link name="nao_2/LHandTouchBack_frame"/>
  <joint name="nao_2/LHand/Touch/Back_sensor_fixedjoint" type="fixed">
    <parent link="nao_2/l_wrist"/>
    <child link="nao_2/LHandTouchBack_frame"/>
    <origin rpy="3.14159 -1.5708 3.14159" xyz="0.038 0 0.025"/>
    <axis xyz="0 0 0"/>
  </joint>
  <link name="nao_2/LHandTouchLeft_frame"/>
  <joint name="nao_2/LHand/Touch/Left_sensor_fixedjoint" type="fixed">
    <parent link="nao_2/l_wrist"/>
    <child link="nao_2/LHandTouchLeft_frame"/>
    <origin rpy="0 0 1.5708" xyz="0.032 0.025 0.003"/>
    <axis xyz="0 0 0"/>
  </joint>
  <link name="nao_2/RFootBumperRight_frame"/>
  <joint name="nao_2/RFoot/Bumper/Right_sensor_fixedjoint" type="fixed">
    <parent link="nao_2/r_ankle"/>
    <child link="nao_2/RFootBumperRight_frame"/>
    <origin rpy="0 0 0" xyz="0.0876 -0.019 -0.0353"/>
    <axis xyz="0 0 0"/>
  </joint>
  <link name="nao_2/RFsrFR_frame">
    <collision>
      <geometry>
        <box size="0.01 0.01 0.005"/>
      </geometry>
      <origin rpy="0 0 0" xyz="0 0 0"/>
    </collision>
    <inertial>
      <mass value="2e-06"/>
      <inertia ixx="1.1e-09" ixy="0" ixz="0" iyy="1.1e-09" iyz="0" izz="1.1e-09"/>
    </inertial>
  </link>
  <joint name="nao_2/RFoot/FSR/FrontRight_sensor_fixedjoint" type="fixed">
    <parent link="nao_2/r_ankle"/>
    <child link="nao_2/RFsrFR_frame"/>
    <origin rpy="0 0 0" xyz="0.07025 -0.0299 -0.04511"/>
    <axis xyz="0 0 0"/>
  </joint>
  <link name="nao_2/MicroSurroundLeft_frame"/>
  <joint name="nao_2/MicroLeft_sensor_fixedjoint" type="fixed">
    <parent link="nao_2/Head"/>
    <child link="nao_2/MicroSurroundLeft_frame"/>
    <origin rpy="0 0 0" xyz="-0.0195 0.0606 0.0331"/>
    <axis xyz="0 0 0"/>
  </joint>
  <link name="nao_2/LFsrRR_frame">
    <collision>
      <geometry>
        <box size="0.01 0.01 0.005"/>
      </geometry>
      <origin rpy="0 0 0" xyz="0 0 0"/>
    </collision>
    <inertial>
      <mass value="2e-06"/>
      <inertia ixx="1.1e-09" ixy="0" ixz="0" iyy="1.1e-09" iyz="0" izz="1.1e-09"/>
    </inertial>
  </link>
  <joint name="nao_2/LFoot/FSR/RearRight_sensor_fixedjoint" type="fixed">
    <parent link="nao_2/l_ankle"/>
    <child link="nao_2/LFsrRR_frame"/>
    <origin rpy="0 0 0" xyz="-0.02965 -0.0191 -0.04511"/>
    <axis xyz="0 0 0"/>
  </joint>
  <link name="nao_2/MicroSurroundRight_frame"/>
  <joint name="nao_2/MicroRight_sensor_fixedjoint" type="fixed">
    <parent link="nao_2/Head"/>
    <child link="nao_2/MicroSurroundRight_frame"/>
    <origin rpy="0 0 0" xyz="-0.0195 -0.0606 0.0331"/>
    <axis xyz="0 0 0"/>
  </joint>
  <link name="nao_2/ImuTorsoAccelerometer_frame"/>
  <joint name="nao_2/Accelerometer_sensor_fixedjoint" type="fixed">
    <parent link="nao_2/torso"/>
    <child link="nao_2/ImuTorsoAccelerometer_frame"/>
    <origin rpy="0 0 0" xyz="-0.008 0.00606 0.027"/>
    <axis xyz="0 0 0"/>
  </joint>
  <link name="nao_2/HeadTouchFront_frame"/>
  <joint name="nao_2/Head/Touch/Front_sensor_fixedjoint" type="fixed">
    <parent link="nao_2/Head"/>
    <child link="nao_2/HeadTouchFront_frame"/>
    <origin rpy="0 -1.1861 0" xyz="0.0312 0 0.1014"/>
    <axis xyz="0 0 0"/>
  </joint>
  <link name="nao_2/RFootBumperLeft_frame"/>
  <joint name="nao_2/RFoot/Bumper/Left_sensor_fixedjoint" type="fixed">
    <parent link="nao_2/r_ankle"/>
    <child link="nao_2/RFootBumperLeft_frame"/>
    <origin rpy="0 0 0" xyz="0.0876 0.014 -0.0353"/>
    <axis xyz="0 0 0"/>
  </joint>
  <link name="nao_2/RSonar_frame"/>
  <joint name="nao_2/Sonar/Right_sensor_fixedjoint" type="fixed">
    <parent link="nao_2/torso"/>
    <child link="nao_2/RSonar_frame"/>
    <origin rpy="0.00478508 0.0436497 -0.392441" xyz="0.00558253 -0.0192068 0.0623853"/>
    <axis xyz="0 0 0"/>
  </joint>
  <link name="nao_2/RHandTouchRight_frame"/>
  <joint name="nao_2/RHand/Touch/Right_sensor_fixedjoint" type="fixed">
    <parent link="nao_2/r_wrist"/>
    <child link="nao_2/RHandTouchRight_frame"/>
    <origin rpy="0 0 -1.5708" xyz="0.035 -0.025 0.0035"/>
    <axis xyz="0 0 0"/>
  </joint>
  <link name="nao_2/RHandTouchBack_frame"/>
  <joint name="nao_2/RHand/Touch/Back_sensor_fixedjoint" type="fixed">
    <parent link="nao_2/r_wrist"/>
    <child link="nao_2/RHandTouchBack_frame"/>
    <origin rpy="3.14159 -1.5708 3.14159" xyz="0.038 0 0.025"/>
    <axis xyz="0 0 0"/>
  </joint>
  <link name="nao_2/RFsrFL_frame">
    <collision>
      <geometry>
        <box size="0.01 0.01 0.005"/>
      </geometry>
      <origin rpy="0 0 0" xyz="0 0 0"/>
    </collision>
    <inertial>
      <mass value="2e-06"/>
      <inertia ixx="1.1e-09" ixy="0" ixz="0" iyy="1.1e-09" iyz="0" izz="1.1e-09"/>
    </inertial>
  </link>
  <joint name="nao_2/RFoot/FSR/FrontLeft_sensor_fixedjoint" type="fixed">
    <parent link="nao_2/r_ankle"/>
    <child link="nao_2/RFsrFL_frame"/>
    <origin rpy="0 0 0" xyz="0.07025 0.0231 -0.04511"/>
    <axis xyz="0 0 0"/>
  </joint>
  <link name="nao_2/LSonar_frame"/>
  <joint name="nao_2/Sonar/Left_sensor_fixedjoint" type="fixed">
    <parent link="nao_2/torso"/>
    <child link="nao_2/LSonar_frame"/>
    <origin rpy="-0.00478508 0.0436497 0.392441" xyz="0.00558253 0.0192068 0.0623853"/>
    <axis xyz="0 0 0"/>
  </joint>
  <link name="nao_2/LFsrFL_frame">
    <collision>
      <geometry>
        <box size="0.01 0.01 0.005"/>
      </geometry>
      <origin rpy="0 0 0" xyz="0 0 0"/>
    </collision>
    <inertial>
      <mass value="2e-06"/>
      <inertia ixx="1.1e-09" ixy="0" ixz="0" iyy="1.1e-09" iyz="0" izz="1.1e-09"/>
    </inertial>
  </link>
  <joint name="nao_2/LFoot/FSR/FrontLeft_sensor_fixedjoint" type="fixed">
    <parent link="nao_2/l_ankle"/>
    <child link="nao_2/LFsrFL_frame"/>
    <origin rpy="0 0 0" xyz="0.07025 0.0299 -0.04511"/>
    <axis xyz="0 0 0"/>
  </joint>
  <link name="nao_2/LFsrRL_frame">
    <collision>
      <geometry>
        <box size="0.01 0.01 0.005"/>
      </geometry>
      <origin rpy="0 0 0" xyz="0 0 0"/>
    </collision>
    <inertial>
      <mass value="2e-06"/>
      <inertia ixx="1.1e-09" ixy="0" ixz="0" iyy="1.1e-09" iyz="0" izz="1.1e-09"/>
    </inertial>
  </link>
  <joint name="nao_2/LFoot/FSR/RearLeft_sensor_fixedjoint" type="fixed">
    <parent link="nao_2/l_ankle"/>
    <child link="nao_2/LFsrRL_frame"/>
    <origin rpy="0 0 0" xyz="-0.03025 0.0299 -0.04511"/>
    <axis xyz="0 0 0"/>
  </joint>
  <link name="nao_2/RHandTouchLeft_frame"/>
  <joint name="nao_2/RHand/Touch/Left_sensor_fixedjoint" type="fixed">
    <parent link="nao_2/r_wrist"/>
    <child link="nao_2/RHandTouchLeft_frame"/>
    <origin rpy="0 0 0" xyz="0.032 0.025 0.003"/>
    <axis xyz="0 0 0"/>
  </joint>
  <link name="nao_2/CameraBottom_frame"/>
  <joint name="nao_2/CameraBottom_sensor_fixedjoint" type="fixed">
    <parent link="nao_2/Head"/>
    <child link="nao_2/CameraBottom_frame"/>
    <origin rpy="0 0 0" xyz="0.05071 0 0.01774"/>
    <axis xyz="0 0 0"/>
  </joint>
  <link name="nao_2/CameraTop_frame"/>
  <joint name="nao_2/CameraTop_sensor_fixedjoint" type="fixed">
    <parent link="nao_2/Head"/>
    <child link="nao_2/CameraTop_frame"/>
    <origin rpy="0 0 0" xyz="0.05871 0 0.06364"/>
    <axis xyz="0 0 0"/>
  </joint>
  <link name="nao_2/CameraTop_optical_frame"/>
  <joint name="nao_2/CameraTop_optical_frame_fixedjoint" type="fixed">
    <parent link="nao_2/CameraTop_frame"/>
    <child link="nao_2/CameraTop_optical_frame"/>
    <origin rpy="-1.57079632679 0 -1.57079632679" xyz="0 0 0"/>
  </joint>
  <link name="nao_2/Rplidar_frame">
    <inertial>
      <mass value="0.1"/>
      <origin xyz="0 0 0"/>
      <inertia ixx="0.01" ixy="0.0" ixz="0.0" iyy="0.01" iyz="0.0" izz="0.01"/>
    </inertial>
    <visual>
      <origin rpy="0 0 0" xyz=" 0 0 0 "/>
      <geometry>
        <box size="0.01 0.01 0.005"/>
      </geometry>
      <material name="red"/>
    </visual>
    <collision>
      <origin rpy="0 0 0" xyz="0.0 0.0 0.0"/>
      <geometry>
        <cylinder length="0.01" radius="0.01"/>
      </geometry>
    </collision>
  </link>
  <joint name="nao_2/Rplidar_sensor_fixedjoint" type="fixed">
    <origin rpy="0 0 0" xyz="0 0 0.025"/>
    <parent link="nao_2/Head"/>
    <child link="nao_2/Rplidar_frame"/>
  </joint>
  <link name="nao_2/LInfraRed_frame"/>
  <joint name="nao_2/InfraredL_sensor_fixedjoint" type="fixed">
    <parent link="nao_2/Head"/>
    <child link="nao_2/LInfraRed_frame"/>
    <origin rpy="0 0 0" xyz="0.0441 0.0257 0.0466"/>
    <axis xyz="0 0 0"/>
  </joint>
  <link name="nao_2/ImuTorsoGyrometer_frame"/>
  <joint name="nao_2/Gyrometer_sensor_fixedjoint" type="fixed">
    <parent link="nao_2/torso"/>
    <child link="nao_2/ImuTorsoGyrometer_frame"/>
    <origin rpy="0 0 0" xyz="-0.008 0.006 0.029"/>
    <axis xyz="0 0 0"/>
  </joint>
  <link name="nao_2/MicroFrontCenter_frame"/>
  <joint name="nao_2/MicroFront_sensor_fixedjoint" type="fixed">
    <parent link="nao_2/Head"/>
    <child link="nao_2/MicroFrontCenter_frame"/>
    <origin rpy="0 0 0" xyz="0.041 0 0.091"/>
    <axis xyz="0 0 0"/>
  </joint>
  <link name="nao_2/HeadTouchRear_frame"/>
  <joint name="nao_2/Head/Touch/Rear_sensor_fixedjoint" type="fixed">
    <parent link="nao_2/Head"/>
    <child link="nao_2/HeadTouchRear_frame"/>
    <origin rpy="3.14159 -1.33319 -3.14159" xyz="-0.0257 0 0.1045"/>
    <axis xyz="0 0 0"/>
  </joint>
  <link name="nao_2/HeadTouchMiddle_frame"/>
  <joint name="nao_2/Head/Touch/Middle_sensor_fixedjoint" type="fixed">
    <parent link="nao_2/Head"/>
    <child link="nao_2/HeadTouchMiddle_frame"/>
    <origin rpy="3.14159 -1.57079 -3.14159" xyz="0.001 0 0.1099"/>
    <axis xyz="0 0 0"/>
  </joint>
  <link name="nao_2/RInfraRed_frame"/>
  <joint name="nao_2/InfraredR_sensor_fixedjoint" type="fixed">
    <parent link="nao_2/Head"/>
    <child link="nao_2/RInfraRed_frame"/>
    <origin rpy="0 0 0" xyz="0.0441 -0.0257 0.0466"/>
    <axis xyz="0 0 0"/>
  </joint>
  <link name="nao_2/ChestButton_frame"/>
  <joint name="nao_2/ChestBoard/Button_sensor_fixedjoint" type="fixed">
    <parent link="nao_2/torso"/>
    <child link="nao_2/ChestButton_frame"/>
    <origin rpy="0 0 0" xyz="0.049871 0.001588 0.055163"/>
    <axis xyz="0 0 0"/>
  </joint>
  <link name="nao_2/LFootBumperLeft_frame"/>
  <joint name="nao_2/LFoot/Bumper/Left_sensor_fixedjoint" type="fixed">
    <parent link="nao_2/l_ankle"/>
    <child link="nao_2/LFootBumperLeft_frame"/>
    <origin rpy="0 0 0" xyz="0.0876 0.019 -0.0353"/>
    <axis xyz="0 0 0"/>
  </joint>
  <link name="nao_2/MicroRearCenter_frame"/>
  <joint name="nao_2/MicroRear_sensor_fixedjoint" type="fixed">
    <parent link="nao_2/Head"/>
    <child link="nao_2/MicroRearCenter_frame"/>
    <origin rpy="0 0 0" xyz="-0.0577 0 0.0693"/>
    <axis xyz="0 0 0"/>
  </joint>
  <link name="nao_2/LHandTouchRight_frame"/>
  <joint name="nao_2/LHand/Touch/Right_sensor_fixedjoint" type="fixed">
    <parent link="nao_2/l_wrist"/>
    <child link="nao_2/LHandTouchRight_frame"/>
    <origin rpy="0 0 -1.5708" xyz="0.035 -0.025 0.0035"/>
    <axis xyz="0 0 0"/>
  </joint>
  <link name="nao_2/RFinger23_link">
    <inertial>
      <mass value="2e-06"/>
      <inertia ixx="1.1e-09" ixy="0" ixz="0" iyy="1.1e-09" iyz="0" izz="1.1e-09"/>
    </inertial>
    <visual>
      <geometry>
        <mesh filename="package://nao_description/nao_meshes/meshes/V40/RFinger23.dae" scale="0.1 0.1 0.1"/>
      </geometry>
      <origin rpy="0 0 0" xyz="0 0 0"/>
    </visual>
    <collision>
      <geometry>
        <mesh filename="package://nao_description/nao_meshes/meshes/V40/RFinger23_0.10.stl" scale="0.1 0.1 0.1"/>
      </geometry>
      <origin rpy="0 0 0" xyz="0 0 0"/>
    </collision>
  </link>
  <joint name="nao_2/RFinger23" type="fixed">
    <parent link="nao_2/RFinger22_link"/>
    <child link="nao_2/RFinger23_link"/>
    <origin rpy="0 0 -0.999899" xyz="0.01436 0 0"/>
    <axis xyz="0 0 1.0"/>
    <!--	<mimic joint="RHand" multiplier="0.999899" offset="0"/> -->
  </joint>
  <link name="nao_2/RFinger13_link">
    <inertial>
      <mass value="2e-06"/>
      <inertia ixx="1.1e-09" ixy="0" ixz="0" iyy="1.1e-09" iyz="0" izz="1.1e-09"/>
    </inertial>
    <visual>
      <geometry>
        <mesh filename="package://nao_description/nao_meshes/meshes/V40/RFinger13.dae" scale="0.1 0.1 0.1"/>
      </geometry>
      <origin rpy="0 0 0" xyz="0 0 0"/>
    </visual>
    <collision>
      <geometry>
        <mesh filename="package://nao_description/nao_meshes/meshes/V40/RFinger13_0.10.stl" scale="0.1 0.1 0.1"/>
      </geometry>
      <origin rpy="0 0 0" xyz="0 0 0"/>
    </collision>
  </link>
  <joint name="nao_2/RFinger13" type="fixed">
    <parent link="nao_2/RFinger12_link"/>
    <child link="nao_2/RFinger13_link"/>
    <origin rpy="0 0 -0.999899" xyz="0.01436 0 0"/>
    <axis xyz="0 0 1.0"/>
    <!--	<mimic joint="RHand" multiplier="0.999899" offset="0"/>  -->
  </joint>
  <link name="nao_2/RFinger12_link">
    <inertial>
      <mass value="2e-06"/>
      <inertia ixx="1.1e-09" ixy="0" ixz="0" iyy="1.1e-09" iyz="0" izz="1.1e-09"/>
    </inertial>
    <visual>
      <geometry>
        <mesh filename="package://nao_description/nao_meshes/meshes/V40/RFinger12.dae" scale="0.1 0.1 0.1"/>
      </geometry>
      <origin rpy="0 0 0" xyz="0 0 0"/>
    </visual>
    <collision>
      <geometry>
        <mesh filename="package://nao_description/nao_meshes/meshes/V40/RFinger12_0.10.stl" scale="0.1 0.1 0.1"/>
      </geometry>
      <origin rpy="0 0 0" xyz="0 0 0"/>
    </collision>
  </link>
  <joint name="nao_2/RFinger12" type="fixed">
    <parent link="nao_2/RFinger11_link"/>
    <child link="nao_2/RFinger12_link"/>
    <origin rpy="0 0 -0.999899" xyz="0.01436 0 0"/>
    <axis xyz="0 0 1.0"/>
    <!--	<mimic joint="RHand" multiplier="0.999899" offset="0"/> -->
  </joint>
  <link name="nao_2/LFinger21_link">
    <inertial>
      <mass value="2e-06"/>
      <inertia ixx="1.1e-09" ixy="0" ixz="0" iyy="1.1e-09" iyz="0" izz="1.1e-09"/>
    </inertial>
    <visual>
      <geometry>
        <mesh filename="package://nao_description/nao_meshes/meshes/V40/LFinger21.dae" scale="0.1 0.1 0.1"/>
      </geometry>
      <origin rpy="0 0 0" xyz="0 0 0"/>
    </visual>
    <collision>
      <geometry>
        <mesh filename="package://nao_description/nao_meshes/meshes/V40/LFinger21_0.10.stl" scale="0.1 0.1 0.1"/>
      </geometry>
      <origin rpy="0 0 0" xyz="0 0 0"/>
    </collision>
  </link>
  <joint name="nao_2/LFinger21" type="fixed">
    <parent link="nao_2/l_wrist"/>
    <child link="nao_2/LFinger21_link"/>
    <origin rpy="1.25539 0.976662 -0.264067" xyz="0.06907 -0.01157 -0.00304"/>
    <axis xyz="0 0 1.0"/>
    <!--	<mimic joint="LHand" multiplier="0.999899" offset="0"/> -->
  </joint>
  <link name="nao_2/LFinger13_link">
    <inertial>
      <mass value="2e-06"/>
      <inertia ixx="1.1e-09" ixy="0" ixz="0" iyy="1.1e-09" iyz="0" izz="1.1e-09"/>
    </inertial>
    <visual>
      <geometry>
        <mesh filename="package://nao_description/nao_meshes/meshes/V40/LFinger13.dae" scale="0.1 0.1 0.1"/>
      </geometry>
      <origin rpy="0 0 0" xyz="0 0 0"/>
    </visual>
    <collision>
      <geometry>
        <mesh filename="package://nao_description/nao_meshes/meshes/V40/LFinger13_0.10.stl" scale="0.1 0.1 0.1"/>
      </geometry>
      <origin rpy="0 0 0" xyz="0 0 0"/>
    </collision>
  </link>
  <joint name="nao_2/LFinger13" type="fixed">
    <parent link="nao_2/LFinger12_link"/>
    <child link="nao_2/LFinger13_link"/>
    <origin rpy="0 0 -0.999899" xyz="0.01436 0 0"/>
    <axis xyz="0 0 1.0"/>
    <!--	<mimic joint="LHand" multiplier="0.999899" offset="0"/> -->
  </joint>
  <link name="nao_2/LFinger11_link">
    <inertial>
      <mass value="2e-06"/>
      <inertia ixx="1.1e-09" ixy="0" ixz="0" iyy="1.1e-09" iyz="0" izz="1.1e-09"/>
    </inertial>
    <visual>
      <geometry>
        <mesh filename="package://nao_description/nao_meshes/meshes/V40/LFinger11.dae" scale="0.1 0.1 0.1"/>
      </geometry>
      <origin rpy="0 0 0" xyz="0 0 0"/>
    </visual>
    <collision>
      <geometry>
        <mesh filename="package://nao_description/nao_meshes/meshes/V40/LFinger11_0.10.stl" scale="0.1 0.1 0.1"/>
      </geometry>
      <origin rpy="0 0 0" xyz="0 0 0"/>
    </collision>
  </link>
  <joint name="nao_2/LFinger11" type="fixed">
    <parent link="nao_2/l_wrist"/>
    <child link="nao_2/LFinger11_link"/>
    <origin rpy="1.8862 0.976662 0.264067" xyz="0.06907 0.01157 -0.00304"/>
    <axis xyz="0 0 1.0"/>
    <!--	<mimic joint="LHand" multiplier="0.999899" offset="0"/> -->
  </joint>
  <link name="nao_2/RFinger22_link">
    <inertial>
      <mass value="2e-06"/>
      <inertia ixx="1.1e-09" ixy="0" ixz="0" iyy="1.1e-09" iyz="0" izz="1.1e-09"/>
    </inertial>
    <visual>
      <geometry>
        <mesh filename="package://nao_description/nao_meshes/meshes/V40/RFinger22.dae" scale="0.1 0.1 0.1"/>
      </geometry>
      <origin rpy="0 0 0" xyz="0 0 0"/>
    </visual>
    <collision>
      <geometry>
        <mesh filename="package://nao_description/nao_meshes/meshes/V40/RFinger22_0.10.stl" scale="0.1 0.1 0.1"/>
      </geometry>
      <origin rpy="0 0 0" xyz="0 0 0"/>
    </collision>
  </link>
  <joint name="nao_2/RFinger22" type="fixed">
    <parent link="nao_2/RFinger21_link"/>
    <child link="nao_2/RFinger22_link"/>
    <origin rpy="0 0 -0.999899" xyz="0.01436 0 0"/>
    <axis xyz="0 0 1.0"/>
    <!--	<mimic joint="RHand" multiplier="0.999899" offset="0"/> -->
  </joint>
  <link name="nao_2/LFinger22_link">
    <inertial>
      <mass value="2e-06"/>
      <inertia ixx="1.1e-09" ixy="0" ixz="0" iyy="1.1e-09" iyz="0" izz="1.1e-09"/>
    </inertial>
    <visual>
      <geometry>
        <mesh filename="package://nao_description/nao_meshes/meshes/V40/LFinger22.dae" scale="0.1 0.1 0.1"/>
      </geometry>
      <origin rpy="0 0 0" xyz="0 0 0"/>
    </visual>
    <collision>
      <geometry>
        <mesh filename="package://nao_description/nao_meshes/meshes/V40/LFinger22_0.10.stl" scale="0.1 0.1 0.1"/>
      </geometry>
      <origin rpy="0 0 0" xyz="0 0 0"/>
    </collision>
  </link>
  <joint name="nao_2/LFinger22" type="fixed">
    <parent link="nao_2/LFinger21_link"/>
    <child link="nao_2/LFinger22_link"/>
    <origin rpy="0 0 -0.999899" xyz="0.01436 0 0"/>
    <axis xyz="0 0 1.0"/>
    <!--	<mimic joint="LHand" multiplier="0.999899" offset="0"/> -->
  </joint>
  <link name="nao_2/RFinger21_link">
    <inertial>
      <mass value="2e-06"/>
      <inertia ixx="1.1e-09" ixy="0" ixz="0" iyy="1.1e-09" iyz="0" izz="1.1e-09"/>
    </inertial>
    <visual>
      <geometry>
        <mesh filename="package://nao_description/nao_meshes/meshes/V40/RFinger21.dae" scale="0.1 0.1 0.1"/>
      </geometry>
      <origin rpy="0 0 0" xyz="0 0 0"/>
    </visual>
    <collision>
      <geometry>
        <mesh filename="package://nao_description/nao_meshes/meshes/V40/RFinger21_0.10.stl" scale="0.1 0.1 0.1"/>
      </geometry>
      <origin rpy="0 0 0" xyz="0 0 0"/>
    </collision>
  </link>
  <joint name="nao_2/RFinger21" type="fixed">
    <parent link="nao_2/r_wrist"/>
    <child link="nao_2/RFinger21_link"/>
    <origin rpy="1.25539 0.976662 -0.264067" xyz="0.06907 -0.01157 -0.00304"/>
    <axis xyz="0 0 1.0"/>
    <!--	<mimic joint="RHand" multiplier="0.999899" offset="0"/> -->
  </joint>
  <link name="nao_2/LFinger12_link">
    <inertial>
      <mass value="2e-06"/>
      <inertia ixx="1.1e-09" ixy="0" ixz="0" iyy="1.1e-09" iyz="0" izz="1.1e-09"/>
    </inertial>
    <visual>
      <geometry>
        <mesh filename="package://nao_description/nao_meshes/meshes/V40/LFinger12.dae" scale="0.1 0.1 0.1"/>
      </geometry>
      <origin rpy="0 0 0" xyz="0 0 0"/>
    </visual>
    <collision>
      <geometry>
        <mesh filename="package://nao_description/nao_meshes/meshes/V40/LFinger12_0.10.stl" scale="0.1 0.1 0.1"/>
      </geometry>
      <origin rpy="0 0 0" xyz="0 0 0"/>
    </collision>
  </link>
  <joint name="nao_2/LFinger12" type="fixed">
    <parent link="nao_2/LFinger11_link"/>
    <child link="nao_2/LFinger12_link"/>
    <origin rpy="0 0 -0.999899" xyz="0.01436 0 0"/>
    <axis xyz="0 0 1.0"/>
    <!--	<mimic joint="LHand" multiplier="0.999899" offset="0"/> -->
  </joint>
  <link name="nao_2/RFinger11_link">
    <inertial>
      <mass value="2e-06"/>
      <inertia ixx="1.1e-09" ixy="0" ixz="0" iyy="1.1e-09" iyz="0" izz="1.1e-09"/>
    </inertial>
    <visual>
      <geometry>
        <mesh filename="package://nao_description/nao_meshes/meshes/V40/RFinger11.dae" scale="0.1 0.1 0.1"/>
      </geometry>
      <origin rpy="0 0 0" xyz="0 0 0"/>
    </visual>
    <collision>
      <geometry>
        <mesh filename="package://nao_description/nao_meshes/meshes/V40/RFinger11_0.10.stl" scale="0.1 0.1 0.1"/>
      </geometry>
      <origin rpy="0 0 0" xyz="0 0 0"/>
    </collision>
  </link>
  <joint name="nao_2/RFinger11" type="fixed">
    <parent link="nao_2/r_wrist"/>
    <child link="nao_2/RFinger11_link"/>
    <origin rpy="1.8862 0.976662 0.264067" xyz="0.06907 0.01157 -0.00304"/>
    <axis xyz="0 0 1.0"/>
    <!--	<mimic joint="RHand" multiplier="0.999899" offset="0"/> -->
  </joint>
  <link name="nao_2/LFinger23_link">
    <inertial>
      <mass value="2e-06"/>
      <inertia ixx="1.1e-09" ixy="0" ixz="0" iyy="1.1e-09" iyz="0" izz="1.1e-09"/>
    </inertial>
    <visual>
      <geometry>
        <mesh filename="package://nao_description/nao_meshes/meshes/V40/LFinger23.dae" scale="0.1 0.1 0.1"/>
      </geometry>
      <origin rpy="0 0 0" xyz="0 0 0"/>
    </visual>
    <collision>
      <geometry>
        <mesh filename="package://nao_description/nao_meshes/meshes/V40/LFinger23_0.10.stl" scale="0.1 0.1 0.1"/>
      </geometry>
      <origin rpy="0 0 0" xyz="0 0 0"/>
    </collision>
  </link>
  <joint name="nao_2/LFinger23" type="fixed">
    <parent link="nao_2/LFinger22_link"/>
    <child link="nao_2/LFinger23_link"/>
    <origin rpy="0 0 -0.999899" xyz="0.01436 0 0"/>
    <axis xyz="0 0 1.0"/>
    <!--	<mimic joint="LHand" multiplier="0.999899" offset="0"/> -->
  </joint>
  <link name="nao_2/LThumb1_link">
    <inertial>
      <mass value="2e-06"/>
      <inertia ixx="1.1e-09" ixy="0" ixz="0" iyy="0" iyz="0" izz="0"/>
    </inertial>
    <visual>
      <geometry>
        <mesh filename="package://nao_description/nao_meshes/meshes/V40/LThumb1.dae" scale="0.1 0.1 0.1"/>
      </geometry>
      <origin rpy="0 0 0" xyz="0 0 0"/>
    </visual>
    <collision>
      <geometry>
        <mesh filename="package://nao_description/nao_meshes/meshes/V40/LThumb1_0.10.stl" scale="0.1 0.1 0.1"/>
      </geometry>
      <origin rpy="0 0 0" xyz="0 0 0"/>
    </collision>
  </link>
  <joint name="nao_2/LThumb1" type="fixed">
    <parent link="nao_2/l_wrist"/>
    <child link="nao_2/LThumb1_link"/>
    <origin rpy="-1.5708 0.0472984 -3.26826e-08" xyz="0.04895 0 -0.02638"/>
    <axis xyz="0 0 1.0"/>
    <!--	<mimic joint="LHand" multiplier="0.999899" offset="0"/> -->
  </joint>
  <link name="nao_2/RThumb1_link">
    <inertial>
      <mass value="2e-06"/>
      <inertia ixx="1.1e-09" ixy="0" ixz="0" iyy="1.1e-09" iyz="0" izz="1.1e-09"/>
    </inertial>
    <visual>
      <geometry>
        <mesh filename="package://nao_description/nao_meshes/meshes/V40/RThumb1.dae" scale="0.1 0.1 0.1"/>
      </geometry>
      <origin rpy="0 0 0" xyz="0 0 0"/>
    </visual>
    <collision>
      <geometry>
        <mesh filename="package://nao_description/nao_meshes/meshes/V40/RThumb1_0.10.stl" scale="0.1 0.1 0.1"/>
      </geometry>
      <origin rpy="0 0 0" xyz="0 0 0"/>
    </collision>
  </link>
  <joint name="nao_2/RThumb1" type="fixed">
    <parent link="nao_2/r_wrist"/>
    <child link="nao_2/RThumb1_link"/>
    <origin rpy="-1.5708 0.0472984 -3.26826e-08" xyz="0.04895 0 -0.02638"/>
    <axis xyz="0 0 1.0"/>
    <!--	<mimic joint="RHand" multiplier="0.999899" offset="0"/> -->
  </joint>
  <link name="nao_2/RThumb2_link">
    <inertial>
      <mass value="2e-06"/>
      <inertia ixx="0" ixy="0" ixz="0" iyy="0" iyz="0" izz="0"/>
    </inertial>
    <visual>
      <geometry>
        <mesh filename="package://nao_description/nao_meshes/meshes/V40/RThumb2.dae" scale="0.1 0.1 0.1"/>
      </geometry>
      <origin rpy="0 0 0" xyz="0 0 0"/>
    </visual>
    <collision>
      <geometry>
        <mesh filename="package://nao_description/nao_meshes/meshes/V40/RThumb2_0.10.stl" scale="0.1 0.1 0.1"/>
      </geometry>
      <origin rpy="0 0 0" xyz="0 0 0"/>
    </collision>
  </link>
  <joint name="nao_2/RThumb2" type="fixed">
    <parent link="nao_2/RThumb1_link"/>
    <child link="nao_2/RThumb2_link"/>
    <origin rpy="0 0 -0.999899" xyz="0.01436 0 0"/>
    <axis xyz="0 0 1.0"/>
    <!--	<mimic joint="RHand" multiplier="0.999899" offset="0"/> -->
  </joint>
  <link name="nao_2/LThumb2_link">
    <inertial>
      <mass value="2e-06"/>
      <inertia ixx="0" ixy="0" ixz="0" iyy="0" iyz="0" izz="0"/>
    </inertial>
    <visual>
      <geometry>
        <mesh filename="package://nao_description/nao_meshes/meshes/V40/LThumb2.dae" scale="0.1 0.1 0.1"/>
      </geometry>
      <origin rpy="0 0 0" xyz="0 0 0"/>
    </visual>
    <collision>
      <geometry>
        <mesh filename="package://nao_description/nao_meshes/meshes/V40/LThumb2_0.10.stl" scale="0.1 0.1 0.1"/>
      </geometry>
      <origin rpy="0 0 0" xyz="0 0 0"/>
    </collision>
  </link>
  <joint name="nao_2/LThumb2" type="fixed">
    <parent link="nao_2/LThumb1_link"/>
    <child link="nao_2/LThumb2_link"/>
    <origin rpy="0 0 -0.999899" xyz="0.01436 0 0"/>
    <axis xyz="0 0 1.0"/>
    <!--	<mimic joint="LHand" multiplier="0.999899" offset="0"/> -->
  </joint>
  <!-- GAZEBO ROS CONTROL AND IMU PLUGIN -->
  <gazebo>
    <plugin filename="/opt/ros/melodic/lib/libgazebo_ros_diff_drive.so" name="left_wheel_drive_controller">
      <rosDebugLevel>Debug</rosDebugLevel>
      <publishWheelTF>false</publishWheelTF>
      <broadcastTF>true</broadcastTF>
      <publishTf>true</publishTf>
      <leftJoint>nao_2/front_left_wheel_joint_l</leftJoint>
      <rightJoint>nao_2/front_left_wheel_joint_r</rightJoint>
      <publishWheelJointState>true</publishWheelJointState>
      <alwaysOn>true</alwaysOn>
      <updateRate>100.0</updateRate>
      <legacyMode>true</legacyMode>
      <wheelSeparation>0.3</wheelSeparation>
      <wheelDiameter>0.1</wheelDiameter>
      <wheelTorque>20</wheelTorque>
      <wheelAcceleration>2</wheelAcceleration>
      <commandTopic>left/cmd_vel</commandTopic>
      <robotBaseFrame>nao_2/base_link</robotBaseFrame>
      <publishOdomTF>true</publishOdomTF>
      <publish_odom>true</publish_odom>
      <odometryTopic>odom</odometryTopic>
      <odometryFrame>nao_2/odom</odometryFrame>
      <odometrySource>world</odometrySource>
    </plugin>
    <plugin filename="/opt/ros/melodic/lib/libgazebo_ros_diff_drive.so" name="right_wheel_drive_controller">
      <rosDebugLevel>Debug</rosDebugLevel>
      <publishWheelTF>false</publishWheelTF>
      <broadcastTF>true</broadcastTF>
      <publishTf>true</publishTf>
      <leftJoint>nao_2/front_right_wheel_joint_l</leftJoint>
      <rightJoint>nao_2/front_right_wheel_joint_r</rightJoint>
      <publishWheelJointState>true</publishWheelJointState>
      <alwaysOn>true</alwaysOn>
      <updateRate>100.0</updateRate>
      <legacyMode>true</legacyMode>
      <wheelSeparation>0.3</wheelSeparation>
      <wheelDiameter>0.1</wheelDiameter>
      <wheelTorque>20</wheelTorque>
      <wheelAcceleration>2</wheelAcceleration>
      <commandTopic>right/cmd_vel</commandTopic>
      <robotBaseFrame>nao_2/base_link</robotBaseFrame>
      <publishOdomTF>true</publishOdomTF>
      <publish_odom>true</publish_odom>
      <odometryTopic>odom</odometryTopic>
      <odometryFrame>nao_2/odom</odometryFrame>
      <odometrySource>world</odometrySource>
    </plugin>
  </gazebo>
  <!--
    <gazebo>
      <plugin name="skid_steer_drive_controller" filename="libgazebo_ros_skid_steer_drive.so">
        <rosDebugLevel>Debug</rosDebugLevel>
        <updateRate>100.0</updateRate>
        <robotNamespace>/</robotNamespace>
        <leftJoint>front_left_wheel_joint_l</leftJoint>
        <rightJoint>front_left_wheel_joint_r</rightJoint>
        <leftJoint>front_right_wheel_joint_l</leftJoint>
        <rightJoint>front_right_wheel_joint_r</rightJoint>
        <wheelSeparation>0.3</wheelSeparation>
        <wheelDiameter>0.1</wheelDiameter>
        <robotBaseFrame>base_link</robotBaseFrame>
        <torque>20</torque>
        <topicName>cmd_vel</topicName>
        <broadcastTF>true</broadcastTF>
      </plugin>
    </gazebo>
-->
  <gazebo>
    <plugin filename="libgazebo_ros_control.so" name="gazebo_ros_control">
      <robotSimType>gazebo_ros_control/DefaultRobotHWSim</robotSimType>
    </plugin>
    <!--        <plugin filename="libgazebo_ros_imu.so" name="gazebo_ros_imu_controller">
            <robotNamespace>/nao_dcm</robotNamespace>
            <topicName>imu_data</topicName>
            <bodyName>imu</bodyName>
            <frameId>ImuAccelerometer_frame</frameId>
            <gaussianNoise>2.89e-08</gaussianNoise>
            <accelGaussianNoise>2.89e-08 2.89e-08 2.89e-08</accelGaussianNoise>
            <rateGaussianNoise>2.89e-08 2.89e-08 2.89e-08</rateGaussianNoise>
            <headingGaussianNoise>2.89e-08 2.89e-08 2.89e-08</headingGaussianNoise>
            <xyzOffsets>0 0 0</xyzOffsets>
            <rpyOffsets>0 0 0</rpyOffsets>
            <updateRate>30.0</updateRate>
            <alwaysOn>true</alwaysOn>
        </plugin>
-->
    <!--        <plugin name="gazebo_ros_imu_controller" filename="">
            <robotNamespace>/nao_dcm</robotNamespace>
            <topicName>imu_data</topicName>
            <bodyName>imu</bodyName>
            <frameId>imu</frameId>
            <gaussianNoise>2.89e-08</gaussianNoise>
            <accelGaussianNoise>2.89e-08 2.89e-08 2.89e-08</accelGaussianNoise>
            <rateGaussianNoise>2.89e-08 2.89e-08 2.89e-08</rateGaussianNoise>
            <headingGaussianNoise>2.89e-08 2.89e-08 2.89e-08</headingGaussianNoise>
            <xyzOffsets>0 0 0</xyzOffsets>
            <rpyOffsets>0 0 0</rpyOffsets>
            <updateRate>30.0</updateRate>
            <alwaysOn>true</alwaysOn>
        </plugin>
-->
    <!-- Mimic joints through plugin develop by costashatz based on implementation by Goncalo Cabrita -->
    <plugin filename="libroboticsgroup_gazebo_mimic_joint_plugin.so" name="mimic_hipyawpitch">
      <joint>LHipYawPitch</joint>
      <mimicJoint>RHipYawPitch</mimicJoint>
      <multiplier>1.0</multiplier>
      <offset>0.0</offset>
    </plugin>
    <plugin filename="libroboticsgroup_gazebo_mimic_joint_plugin.so" name="mimic_LFinger01">
      <joint>nao_2/LHand</joint>
      <mimicJoint>nao_2/LFinger01</mimicJoint>
      <multiplier>-0.785398163398</multiplier>
      <offset>0.785398163398</offset>
    </plugin>
    <plugin filename="libroboticsgroup_gazebo_mimic_joint_plugin.so" name="mimic_LFinger02">
      <joint>nao_2/LHand</joint>
      <mimicJoint>nao_2/LFinger02</mimicJoint>
      <multiplier>-0.785398163398</multiplier>
      <offset>0.785398163398</offset>
    </plugin>
    <plugin filename="libroboticsgroup_gazebo_mimic_joint_plugin.so" name="mimic_LFinger03">
      <joint>nao_2/LHand</joint>
      <mimicJoint>nao_2/LFinger03</mimicJoint>
      <multiplier>-0.785398163398</multiplier>
      <offset>0.785398163398</offset>
    </plugin>
    <plugin filename="libroboticsgroup_gazebo_mimic_joint_plugin.so" name="mimic_LFinger01">
      <joint>nao_2/LHand</joint>
      <mimicJoint>nao_2/LFinger01</mimicJoint>
      <multiplier>-0.785398163398</multiplier>
      <offset>0.785398163398</offset>
    </plugin>
    <plugin filename="libroboticsgroup_gazebo_mimic_joint_plugin.so" name="mimic_LFinger02">
      <joint>nao_2/LHand</joint>
      <mimicJoint>nao_2/LFinger02</mimicJoint>
      <multiplier>-0.785398163398</multiplier>
      <offset>0.785398163398</offset>
    </plugin>
    <plugin filename="libroboticsgroup_gazebo_mimic_joint_plugin.so" name="mimic_LFinger03">
      <joint>nao_2/LHand</joint>
      <mimicJoint>nao_2/LFinger03</mimicJoint>
      <multiplier>-0.785398163398</multiplier>
      <offset>0.785398163398</offset>
    </plugin>
    <plugin filename="libroboticsgroup_gazebo_mimic_joint_plugin.so" name="mimic_RFinger01">
      <joint>nao_2/RHand</joint>
      <mimicJoint>nao_2/RFinger01</mimicJoint>
      <multiplier>-0.785398163398</multiplier>
      <offset>0.785398163398</offset>
    </plugin>
    <plugin filename="libroboticsgroup_gazebo_mimic_joint_plugin.so" name="mimic_RFinger02">
      <joint>nao_2/RHand</joint>
      <mimicJoint>nao_2/RFinger02</mimicJoint>
      <multiplier>-0.785398163398</multiplier>
      <offset>0.785398163398</offset>
    </plugin>
    <plugin filename="libroboticsgroup_gazebo_mimic_joint_plugin.so" name="mimic_RFinger03">
      <joint>nao_2/RHand</joint>
      <mimicJoint>nao_2/RFinger03</mimicJoint>
      <multiplier>-0.785398163398</multiplier>
      <offset>0.785398163398</offset>
    </plugin>
    <plugin filename="libroboticsgroup_gazebo_mimic_joint_plugin.so" name="mimic_RFinger01">
      <joint>nao_2/RHand</joint>
      <mimicJoint>nao_2/RFinger01</mimicJoint>
      <multiplier>-0.785398163398</multiplier>
      <offset>0.785398163398</offset>
    </plugin>
    <plugin filename="libroboticsgroup_gazebo_mimic_joint_plugin.so" name="mimic_RFinger02">
      <joint>nao_2/RHand</joint>
      <mimicJoint>nao_2/RFinger02</mimicJoint>
      <multiplier>-0.785398163398</multiplier>
      <offset>0.785398163398</offset>
    </plugin>
    <plugin filename="libroboticsgroup_gazebo_mimic_joint_plugin.so" name="mimic_RFinger03">
      <joint>nao_2/RHand</joint>
      <mimicJoint>nao_2/RFinger03</mimicJoint>
      <multiplier>-0.785398163398</multiplier>
      <offset>0.785398163398</offset>
    </plugin>
    <plugin filename="libroboticsgroup_gazebo_mimic_joint_plugin.so" name="LThumb1">
      <joint>nao_2/LHand</joint>
      <mimicJoint>nao_2/LThumb1</mimicJoint>
      <multiplier>-0.785398163398</multiplier>
      <offset>0.785398163398</offset>
    </plugin>
    <plugin filename="libroboticsgroup_gazebo_mimic_joint_plugin.so" name="LThumb2">
      <joint>nao_2/LHand</joint>
      <mimicJoint>nao_2/LThumb2</mimicJoint>
      <multiplier>-0.785398163398</multiplier>
      <offset>0.785398163398</offset>
    </plugin>
    <plugin filename="libroboticsgroup_gazebo_mimic_joint_plugin.so" name="RThumb1">
      <joint>nao_2/RHand</joint>
      <mimicJoint>nao_2/RThumb1</mimicJoint>
      <multiplier>-0.785398163398</multiplier>
      <offset>0.785398163398</offset>
    </plugin>
    <plugin filename="libroboticsgroup_gazebo_mimic_joint_plugin.so" name="RThumb2">
      <joint>nao_2/RHand</joint>
      <mimicJoint>nao_2/RThumb2</mimicJoint>
      <multiplier>-0.785398163398</multiplier>
      <offset>0.785398163398</offset>
    </plugin>
    <plugin filename="libroboticsgroup_gazebo_disable_link_plugin.so" name="LFinger11_link">
      <link>nao_2/LFinger11_link</link>
    </plugin>
    <plugin filename="libroboticsgroup_gazebo_disable_link_plugin.so" name="LFinger12_link">
      <link>nao_2/LFinger12_link</link>
    </plugin>
    <plugin filename="libroboticsgroup_gazebo_disable_link_plugin.so" name="LFinger13_link">
      <link>nao_2/LFinger13_link</link>
    </plugin>
    <plugin filename="libroboticsgroup_gazebo_disable_link_plugin.so" name="LFinger21_link">
      <link>nao_2/LFinger21_link</link>
    </plugin>
    <plugin filename="libroboticsgroup_gazebo_disable_link_plugin.so" name="LFinger22_link">
      <link>nao_2/LFinger22_link</link>
    </plugin>
    <plugin filename="libroboticsgroup_gazebo_disable_link_plugin.so" name="LFinger23_link">
      <link>nao_2/LFinger23_link</link>
    </plugin>
    <plugin filename="libroboticsgroup_gazebo_disable_link_plugin.so" name="LThumb1_link">
      <link>nao_2/LThumb1_link</link>
    </plugin>
    <plugin filename="libroboticsgroup_gazebo_disable_link_plugin.so" name="LThumb2_link">
      <link>nao_2/LThumb2_link</link>
    </plugin>
    <plugin filename="libroboticsgroup_gazebo_disable_link_plugin.so" name="l_gripper">
      <link>nao_2/l_gripper</link>
    </plugin>
    <plugin filename="libroboticsgroup_gazebo_disable_link_plugin.so" name="RFinger11_link">
      <link>nao_2/RFinger11_link</link>
    </plugin>
    <plugin filename="libroboticsgroup_gazebo_disable_link_plugin.so" name="RFinger12_link">
      <link>nao_2/RFinger12_link</link>
    </plugin>
    <plugin filename="libroboticsgroup_gazebo_disable_link_plugin.so" name="RFinger13_link">
      <link>nao_2/RFinger13_link</link>
    </plugin>
    <plugin filename="libroboticsgroup_gazebo_disable_link_plugin.so" name="RFinger21_link">
      <link>nao_2/RFinger21_link</link>
    </plugin>
    <plugin filename="libroboticsgroup_gazebo_disable_link_plugin.so" name="RFinger22_link">
      <link>nao_2/RFinger22_link</link>
    </plugin>
    <plugin filename="libroboticsgroup_gazebo_disable_link_plugin.so" name="RFinger23_link">
      <link>nao_2/RFinger23_link</link>
    </plugin>
    <plugin filename="libroboticsgroup_gazebo_disable_link_plugin.so" name="RThumb1_link">
      <link>nao_2/RThumb1_link</link>
    </plugin>
    <plugin filename="libroboticsgroup_gazebo_disable_link_plugin.so" name="RThumb2_link">
      <link>nao_2/RThumb2_link</link>
    </plugin>
    <plugin filename="libroboticsgroup_gazebo_disable_link_plugin.so" name="r_gripper">
      <link>nao_2/r_gripper</link>
    </plugin>
  </gazebo>
  <!-- END OF GAZEBO ROS CONTROL PLUGIN -->
  <!-- GAZEBO MATERIALS -->
  <gazebo reference="nao_2/torso">
    <mu1>0.5</mu1>
    <mu2>0.5</mu2>
    <selfCollide>false</selfCollide>
    <turnGravityOff>false</turnGravityOff>
  </gazebo>
  <gazebo reference="nao_2/Neck">
    <mu1>0.5</mu1>
    <mu2>0.5</mu2>
    <selfCollide>false</selfCollide>
    <turnGravityOff>false</turnGravityOff>
  </gazebo>
  <gazebo reference="nao_2/Head">
    <mu1>0.5</mu1>
    <mu2>0.5</mu2>
    <selfCollide>false</selfCollide>
    <turnGravityOff>false</turnGravityOff>
  </gazebo>
  <gazebo reference="nao_2/gaze">
    <mu1>0.5</mu1>
    <mu2>0.5</mu2>
    <selfCollide>false</selfCollide>
    <turnGravityOff>false</turnGravityOff>
  </gazebo>
  <!--    <gazebo reference="LShoulderDummy">
        <mu1>0.5</mu1>
        <mu2>0.5</mu2>
        <selfCollide>false</selfCollide>
        <turnGravityOff>false</turnGravityOff>
    </gazebo>
    <gazebo reference="RShoulderDummy">
        <mu1>0.5</mu1>
        <mu2>0.5</mu2>
        <selfCollide>false</selfCollide>
        <turnGravityOff>false</turnGravityOff>
    </gazebo> -->
  <!-- ARMS -->
  <gazebo reference="nao_2/LShoulder">
    <mu1>0.5</mu1>
    <mu2>0.5</mu2>
    <selfCollide>false</selfCollide>
    <turnGravityOff>false</turnGravityOff>
  </gazebo>
  <gazebo reference="nao_2/LBicep">
    <mu1>0.5</mu1>
    <mu2>0.5</mu2>
    <selfCollide>false</selfCollide>
    <turnGravityOff>false</turnGravityOff>
  </gazebo>
  <gazebo reference="nao_2/LElbow">
    <mu1>0.5</mu1>
    <mu2>0.5</mu2>
    <selfCollide>false</selfCollide>
    <turnGravityOff>false</turnGravityOff>
  </gazebo>
  <gazebo reference="nao_2/LForeArm">
    <mu1>0.5</mu1>
    <mu2>0.5</mu2>
    <selfCollide>false</selfCollide>
    <turnGravityOff>false</turnGravityOff>
  </gazebo>
  <gazebo reference="nao_2/l_wrist">
    <mu1>0.5</mu1>
    <mu2>0.5</mu2>
    <selfCollide>false</selfCollide>
    <turnGravityOff>false</turnGravityOff>
  </gazebo>
  <gazebo reference="nao_2/l_gripper">
    <mu1>0.5</mu1>
    <mu2>0.5</mu2>
    <selfCollide>false</selfCollide>
    <turnGravityOff>true</turnGravityOff>
  </gazebo>
  <gazebo reference="nao_2/RShoulder">
    <mu1>0.5</mu1>
    <mu2>0.5</mu2>
    <selfCollide>false</selfCollide>
    <turnGravityOff>false</turnGravityOff>
  </gazebo>
  <gazebo reference="nao_2/RBicep">
    <mu1>0.5</mu1>
    <mu2>0.5</mu2>
    <selfCollide>false</selfCollide>
    <turnGravityOff>false</turnGravityOff>
  </gazebo>
  <gazebo reference="nao_2/RElbow">
    <mu1>0.5</mu1>
    <mu2>0.5</mu2>
    <selfCollide>false</selfCollide>
    <turnGravityOff>false</turnGravityOff>
  </gazebo>
  <gazebo reference="nao_2/RForeArm">
    <mu1>0.5</mu1>
    <mu2>0.5</mu2>
    <selfCollide>false</selfCollide>
    <turnGravityOff>false</turnGravityOff>
  </gazebo>
  <gazebo reference="nao_2/r_wrist">
    <mu1>0.5</mu1>
    <mu2>0.5</mu2>
    <selfCollide>false</selfCollide>
    <turnGravityOff>false</turnGravityOff>
  </gazebo>
  <gazebo reference="nao_2/r_gripper">
    <mu1>0.5</mu1>
    <mu2>0.5</mu2>
    <selfCollide>false</selfCollide>
    <turnGravityOff>true</turnGravityOff>
  </gazebo>
  <!--    <gazebo reference="LElbowDummy">
        <mu1>0.5</mu1>
        <mu2>0.5</mu2>
        <selfCollide>false</selfCollide>
        <turnGravityOff>false</turnGravityOff>
    </gazebo>
-->
  <gazebo reference="nao_2/LFinger11_link">
    <mu1>0.5</mu1>
    <mu2>0.5</mu2>
    <selfCollide>false</selfCollide>
    <turnGravityOff>false</turnGravityOff>
  </gazebo>
  <gazebo reference="nao_2/LFinger12_link">
    <mu1>0.5</mu1>
    <mu2>0.5</mu2>
    <selfCollide>false</selfCollide>
    <turnGravityOff>false</turnGravityOff>
  </gazebo>
  <gazebo reference="nao_2/LFinger13_link">
    <mu1>0.5</mu1>
    <mu2>0.5</mu2>
    <selfCollide>false</selfCollide>
    <turnGravityOff>false</turnGravityOff>
  </gazebo>
  <gazebo reference="nao_2/LFinger21_link">
    <mu1>0.5</mu1>
    <mu2>0.5</mu2>
    <selfCollide>false</selfCollide>
    <turnGravityOff>false</turnGravityOff>
  </gazebo>
  <gazebo reference="nao_2/LFinger22_link">
    <mu1>0.5</mu1>
    <mu2>0.5</mu2>
    <selfCollide>false</selfCollide>
    <turnGravityOff>false</turnGravityOff>
  </gazebo>
  <gazebo reference="nao_2/LFinger23_link">
    <mu1>0.5</mu1>
    <mu2>0.5</mu2>
    <selfCollide>false</selfCollide>
    <turnGravityOff>false</turnGravityOff>
  </gazebo>
  <gazebo reference="nao_2/LThumb1_link">
    <mu1>0.5</mu1>
    <mu2>0.5</mu2>
    <selfCollide>false</selfCollide>
    <turnGravityOff>false</turnGravityOff>
  </gazebo>
  <gazebo reference="nao_2/LThumb2_link">
    <mu1>0.5</mu1>
    <mu2>0.5</mu2>
    <selfCollide>false</selfCollide>
    <turnGravityOff>false</turnGravityOff>
  </gazebo>
  <gazebo reference="nao_2/LPelvis">
    <mu1>0.5</mu1>
    <mu2>0.5</mu2>
    <selfCollide>false</selfCollide>
    <turnGravityOff>false</turnGravityOff>
  </gazebo>
  <gazebo reference="nao_2/LHip">
    <mu1>0.5</mu1>
    <mu2>0.5</mu2>
    <selfCollide>false</selfCollide>
    <turnGravityOff>false</turnGravityOff>
  </gazebo>
  <gazebo reference="nao_2/LThigh">
    <mu1>0.5</mu1>
    <mu2>0.5</mu2>
    <selfCollide>false</selfCollide>
    <turnGravityOff>false</turnGravityOff>
  </gazebo>
  <gazebo reference="nao_2/LTibia">
    <mu1>0.5</mu1>
    <mu2>0.5</mu2>
    <selfCollide>false</selfCollide>
    <turnGravityOff>false</turnGravityOff>
  </gazebo>
  <!-- left leg wheels -->
  <gazebo reference="nao_2/left_wheel_link_l">
    <mu1>0.5</mu1>
    <mu2>0.5</mu2>
    <selfCollide>false</selfCollide>
    <turnGravityOff>false</turnGravityOff>
    <material>Gazebo/Gray</material>
  </gazebo>
  <gazebo reference="nao_2/left_wheel_link_r">
    <mu1>0.5</mu1>
    <mu2>0.5</mu2>
    <selfCollide>false</selfCollide>
    <turnGravityOff>false</turnGravityOff>
    <material>Gazebo/Gray</material>
  </gazebo>
  <gazebo reference="nao_2/front_left_wheel_link_l">
    <mu1>0.5</mu1>
    <mu2>0.5</mu2>
    <selfCollide>false</selfCollide>
    <turnGravityOff>false</turnGravityOff>
    <material>Gazebo/Gray</material>
  </gazebo>
  <gazebo reference="nao_2/front_left_wheel_link_r">
    <mu1>0.5</mu1>
    <mu2>0.5</mu2>
    <selfCollide>false</selfCollide>
    <turnGravityOff>false</turnGravityOff>
    <material>Gazebo/Gray</material>
  </gazebo>
  <!-- right wheels -->
  <gazebo reference="nao_2/right_wheel_link_l">
    <mu1>0.5</mu1>
    <mu2>0.5</mu2>
    <selfCollide>false</selfCollide>
    <turnGravityOff>false</turnGravityOff>
    <material>Gazebo/Gray</material>
  </gazebo>
  <gazebo reference="nao_2/right_wheel_link_r">
    <mu1>0.5</mu1>
    <mu2>0.5</mu2>
    <selfCollide>false</selfCollide>
    <turnGravityOff>false</turnGravityOff>
    <material>Gazebo/Gray</material>
  </gazebo>
  <gazebo reference="nao_2/front_right_wheel_link_l">
    <mu1>0.5</mu1>
    <mu2>0.5</mu2>
    <selfCollide>false</selfCollide>
    <turnGravityOff>false</turnGravityOff>
    <material>Gazebo/Gray</material>
  </gazebo>
  <gazebo reference="nao_2/front_right_wheel_link_r">
    <mu1>0.5</mu1>
    <mu2>0.5</mu2>
    <selfCollide>false</selfCollide>
    <turnGravityOff>false</turnGravityOff>
    <material>Gazebo/Gray</material>
  </gazebo>
  <gazebo reference="nao_2/LAnklePitch">
    <mu1>0.5</mu1>
    <mu2>0.5</mu2>
    <selfCollide>false</selfCollide>
    <turnGravityOff>false</turnGravityOff>
  </gazebo>
  <gazebo reference="nao_2/l_ankle">
    <mu1>0.5</mu1>
    <mu2>0.5</mu2>
    <selfCollide>false</selfCollide>
    <turnGravityOff>false</turnGravityOff>
    <fdir1>1 0 0</fdir1>
    <maxVel>0.1</maxVel>
    <minDepth>0.003</minDepth>
  </gazebo>
  <gazebo reference="nao_2/RPelvis">
    <mu1>0.5</mu1>
    <mu2>0.5</mu2>
    <selfCollide>false</selfCollide>
    <turnGravityOff>false</turnGravityOff>
  </gazebo>
  <gazebo reference="nao_2/RHip">
    <mu1>0.5</mu1>
    <mu2>0.5</mu2>
    <selfCollide>false</selfCollide>
    <turnGravityOff>false</turnGravityOff>
  </gazebo>
  <gazebo reference="nao_2/RThigh">
    <mu1>0.5</mu1>
    <mu2>0.5</mu2>
    <selfCollide>false</selfCollide>
    <turnGravityOff>false</turnGravityOff>
  </gazebo>
  <gazebo reference="nao_2/RTibia">
    <mu1>0.5</mu1>
    <mu2>0.5</mu2>
    <selfCollide>false</selfCollide>
    <turnGravityOff>false</turnGravityOff>
  </gazebo>
  <gazebo reference="nao_2/RAnklePitch">
    <mu1>0.5</mu1>
    <mu2>0.5</mu2>
    <selfCollide>false</selfCollide>
    <turnGravityOff>false</turnGravityOff>
  </gazebo>
  <gazebo reference="nao_2/r_ankle">
    <mu1>0.5</mu1>
    <mu2>0.5</mu2>
    <selfCollide>false</selfCollide>
    <turnGravityOff>false</turnGravityOff>
    <fdir1>1 0 0</fdir1>
    <maxVel>0.1</maxVel>
    <minDepth>0.003</minDepth>
  </gazebo>
  <gazebo reference="nao_2/RFinger11_link">
    <mu1>0.5</mu1>
    <mu2>0.5</mu2>
    <selfCollide>false</selfCollide>
    <turnGravityOff>false</turnGravityOff>
  </gazebo>
  <gazebo reference="nao_2/RFinger12_link">
    <mu1>0.5</mu1>
    <mu2>0.5</mu2>
    <selfCollide>false</selfCollide>
    <turnGravityOff>false</turnGravityOff>
  </gazebo>
  <gazebo reference="nao_2/RFinger13_link">
    <mu1>0.5</mu1>
    <mu2>0.5</mu2>
    <selfCollide>false</selfCollide>
    <turnGravityOff>false</turnGravityOff>
  </gazebo>
  <gazebo reference="nao_2/RFinger21_link">
    <mu1>0.5</mu1>
    <mu2>0.5</mu2>
    <selfCollide>false</selfCollide>
    <turnGravityOff>false</turnGravityOff>
  </gazebo>
  <gazebo reference="nao_2/RFinger22_link">
    <mu1>0.5</mu1>
    <mu2>0.5</mu2>
    <selfCollide>false</selfCollide>
    <turnGravityOff>false</turnGravityOff>
  </gazebo>
  <gazebo reference="nao_2/RFinger23_link">
    <mu1>0.5</mu1>
    <mu2>0.5</mu2>
    <selfCollide>false</selfCollide>
    <turnGravityOff>false</turnGravityOff>
  </gazebo>
  <gazebo reference="nao_2/RThumb1_link">
    <mu1>0.5</mu1>
    <mu2>0.5</mu2>
    <selfCollide>false</selfCollide>
    <turnGravityOff>false</turnGravityOff>
  </gazebo>
  <gazebo reference="nao_2/RThumb2_link">
    <mu1>0.5</mu1>
    <mu2>0.5</mu2>
    <selfCollide>false</selfCollide>
    <turnGravityOff>false</turnGravityOff>
  </gazebo>
  <!--

        RGB CAMERAS: Working
-->
  <gazebo reference="nao_2/CameraTop_frame">
    <sensor name="CameraTop" type="camera">
      <update_rate>5.0</update_rate>
      <camera name="camera_top">
        <horizontal_fov>1.06290551</horizontal_fov>
        <image>
          <width>640</width>
          <height>480</height>
          <format>R8G8B8</format>
        </image>
        <clip>
          <near>0.03</near>
          <far>500</far>
        </clip>
        <noise>
          <type>gaussian</type>
          <mean>0.0</mean>
          <stddev>0.007</stddev>
        </noise>
      </camera>
      <plugin filename="libgazebo_ros_camera.so" name="camera_controller">
        <alwaysOn>true</alwaysOn>
        <updateRate>5.0</updateRate>
        <cameraName>camera_Top</cameraName>
        <imageTopicName>image_raw</imageTopicName>
        <cameraInfoTopicName>camera_info</cameraInfoTopicName>
        <frameName>nao_2/CameraTop_optical_frame</frameName>
        <hackBaseline>0.07</hackBaseline>
        <distortionK1>-0.0545211</distortionK1>
        <distortionK2>0.06919734</distortionK2>
        <distortionK3>-0.0241095</distortionK3>
        <distortionT1>-0.0112245</distortionT1>
        <distortionT2>0.0</distortionT2>
      </plugin>
    </sensor>
  </gazebo>
  <gazebo reference="nao_2/CameraBottom_frame">
    <sensor name="CameraBottom" type="depth">
      <always_on>true</always_on>
      <update_rate>20.0</update_rate>
      <camera name="camera_bottom">
        <horizontal_fov>1.06290551</horizontal_fov>
        <image>
          <width>640</width>
          <height>480</height>
          <format>R8G8B8</format>
        </image>
        <clip>
          <near>0.05</near>
          <far>500</far>
        </clip>
      </camera>
      <plugin filename="libgazebo_ros_openni_kinect.so" name="kinect_camera_controller">
        <alwaysOn>true</alwaysOn>
        <updateRate>20.0</updateRate>
        <cameraName>kinect_camera_Bottom</cameraName>
        <imageTopicName>kinect/image_raw</imageTopicName>
        <cameraInfoTopicName>kinect/camera_info</cameraInfoTopicName>
        <frameName>nao_2/CameraBottom_optical_frame</frameName>
        <depthImageTopicName>depth/image_raw</depthImageTopicName>
        <depthImageInfoTopicName>depth/camera_info</depthImageInfoTopicName>
        <pointCloudTopicName>depth/points</pointCloudTopicName>
        <pointCloudCutoff>0.5</pointCloudCutoff>
        <distortionK1>0.00000001</distortionK1>
        <distortionK2>0.00000001</distortionK2>
        <distortionK3>0.00000001</distortionK3>
        <distortionT1>0.00000001</distortionT1>
        <distortionT2>0.00000001</distortionT2>
        <CxPrime>0</CxPrime>
        <Cx>0</Cx>
        <Cy>0</Cy>
        <focalLength>0</focalLength>
        <hackBaseline>0</hackBaseline>
      </plugin>
    </sensor>
  </gazebo>
  <gazebo reference="nao_2/Rplidar_frame">
    <sensor name="rplidar" type="ray">
      <pose>0 0 0 0 0 0</pose>
      <visualize>false</visualize>
      <update_rate>5.5</update_rate>
      <ray>
        <scan>
          <horizontal>
            <samples>360</samples>
            <resolution>1</resolution>
            <min_angle>-3</min_angle>
            <max_angle>3</max_angle>
          </horizontal>
        </scan>
        <range>
          <min>0.10</min>
          <max>6.0</max>
          <resolution>0.01</resolution>
        </range>
        <noise>
          <type>gaussian</type>
          <mean>0.0</mean>
          <stddev>0.01</stddev>
        </noise>
      </ray>
      <plugin filename="libgazebo_ros_laser.so" name="gazebo_rplidar">
        <topicName>scan</topicName>
        <frameName>nao_2/Rplidar_frame</frameName>
      </plugin>
    </sensor>
  </gazebo>
  <!--

        CameraDepth : not displayed at the right spot

<gazebo reference="CameraDepth3_frame">
    <sensor type="depth" name="openni_camera_camera2">
        <always_on>1</always_on>
        <visualize>true</visualize>
        <camera>
            <horizontal_fov>1.01229</horizontal_fov>
            <image>
                <width>320</width>
                <height>240</height>
                <format>R8G8B8</format>
            </image>
            <depth_camera>

            </depth_camera>
            <clip>
                <near>0.1</near>
                <far>100</far>
            </clip>
        </camera>
        <plugin name="depth_cam_controller2" filename="libgazebo_ros_openni_kinect.so">
            <baseline>0.2</baseline>
            <alwaysOn>true</alwaysOn>
            <updateRate>0.1</updateRate>
            <cameraName>xtion2</cameraName>
            <imageTopicName>/xtion2/ir/image_raw</imageTopicName>
            <cameraInfoTopicName>/xtion2/ir/camera_info</cameraInfoTopicName>
            <depthImageTopicName>/xtion2/depth/image_raw</depthImageTopicName>
            <depthImageInfoTopicName>/xtion2/depth/camera_info</depthImageInfoTopicName>
            <pointCloudTopicName>/xtion2/depth/points</pointCloudTopicName>
            <frameName>CameraDepth2_frame</frameName>
            <pointCloudCutoff>0.5</pointCloudCutoff>
            <distortionK1>0.00000001</distortionK1>
            <distortionK2>0.00000001</distortionK2>
            <distortionK3>0.00000001</distortionK3>
            <distortionT1>0.00000001</distortionT1>
            <distortionT2>0.00000001</distortionT2>
            <CxPrime>0</CxPrime>
            <Cx>0</Cx>
            <Cy>0</Cy>
            <focalLength>0</focalLength>
            <hackBaseline>0</hackBaseline>
        </plugin>
    </sensor>
</gazebo>
-->
  <!--
    BUMPERS + FSR
libgazebo_ros_bumper.so bugged right now, waiting for new release


<gazebo reference="LFootBumper_frame">
  <sensor type="contact" name="LFootBumper">
    <update_rate>10</update_rate>
    <contact>
      <collision>LFootBumper_frame_collision</collision>
    </contact>
    <plugin filename="libgazebo_ros_bumper.so" name="gazebo_nao_ros_bumper">
      <alwaysOn>true</alwaysOn>
      <bumperTopicName>LFootBumper</bumperTopicName>
      <frameName>LFootBumper_frame</frameName>
    </plugin>
  </sensor>
</gazebo>
-->
  <gazebo reference="nao_2/RFsrFL_frame">
    <mu1>0.5</mu1>
    <mu2>0.5</mu2>
    <selfCollide>false</selfCollide>
    <turnGravityOff>false</turnGravityOff>
    <fdir1>1 0 0</fdir1>
    <maxVel>0.1</maxVel>
    <minDepth>0.003</minDepth>
    <sensor name="RFsrFL" type="contact">
      <always_on>1</always_on>
      <update_rate>20</update_rate>
      <visualize>false</visualize>
      <contact>
        <collision>RFsrFL_frame_collision</collision>
      </contact>
      <plugin filename="libgazebo_ros_bumper.so" name="gazebo_nao_RFsrFL">
        <robotNamespace>nao_robot</robotNamespace>
        <alwaysOn>true</alwaysOn>
        <bumperTopicName>FSR/RFoot/FrontLeft</bumperTopicName>
        <frameName>RFsrFL_frame</frameName>
      </plugin>
    </sensor>
  </gazebo>
  <gazebo reference="nao_2/RFsrFR_frame">
    <mu1>0.5</mu1>
    <mu2>0.5</mu2>
    <selfCollide>false</selfCollide>
    <turnGravityOff>false</turnGravityOff>
    <fdir1>1 0 0</fdir1>
    <maxVel>0.1</maxVel>
    <minDepth>0.003</minDepth>
    <sensor name="RFsrFR" type="contact">
      <always_on>1</always_on>
      <update_rate>20</update_rate>
      <visualize>false</visualize>
      <contact>
        <collision>RFsrFR_frame_collision</collision>
      </contact>
      <plugin filename="libgazebo_ros_bumper.so" name="gazebo_nao_RFsrFR">
        <robotNamespace>nao_robot</robotNamespace>
        <alwaysOn>true</alwaysOn>
        <bumperTopicName>FSR/RFoot/FrontRight</bumperTopicName>
        <frameName>RFsrFR_frame</frameName>
      </plugin>
    </sensor>
  </gazebo>
  <gazebo reference="nao_2/RFsrRL_frame">
    <mu1>0.5</mu1>
    <mu2>0.5</mu2>
    <selfCollide>false</selfCollide>
    <turnGravityOff>false</turnGravityOff>
    <fdir1>1 0 0</fdir1>
    <maxVel>0.1</maxVel>
    <minDepth>0.003</minDepth>
    <sensor name="RFsrRL" type="contact">
      <always_on>1</always_on>
      <update_rate>20</update_rate>
      <visualize>false</visualize>
      <contact>
        <collision>RFsrRL_frame_collision</collision>
      </contact>
      <plugin filename="libgazebo_ros_bumper.so" name="gazebo_nao_RFsrRL">
        <robotNamespace>nao_robot</robotNamespace>
        <alwaysOn>true</alwaysOn>
        <bumperTopicName>FSR/RFoot/RearLeft</bumperTopicName>
        <frameName>RFsrRL_frame</frameName>
      </plugin>
    </sensor>
  </gazebo>
  <gazebo reference="nao_2/RFsrRR_frame">
    <mu1>0.5</mu1>
    <mu2>0.5</mu2>
    <selfCollide>false</selfCollide>
    <turnGravityOff>false</turnGravityOff>
    <fdir1>1 0 0</fdir1>
    <maxVel>0.1</maxVel>
    <minDepth>0.003</minDepth>
    <sensor name="RFsrRR" type="contact">
      <always_on>1</always_on>
      <update_rate>20</update_rate>
      <visualize>false</visualize>
      <contact>
        <collision>RFsrRR_frame_collision</collision>
      </contact>
      <plugin filename="libgazebo_ros_bumper.so" name="gazebo_nao_RFsrRR">
        <robotNamespace>nao_robot</robotNamespace>
        <alwaysOn>true</alwaysOn>
        <bumperTopicName>FSR/RFoot/RearRight</bumperTopicName>
        <frameName>RFsrRR_frame</frameName>
      </plugin>
    </sensor>
  </gazebo>
  <gazebo reference="nao_2/LFsrFL_frame">
    <mu1>0.5</mu1>
    <mu2>0.5</mu2>
    <selfCollide>false</selfCollide>
    <turnGravityOff>false</turnGravityOff>
    <fdir1>1 0 0</fdir1>
    <maxVel>0.1</maxVel>
    <minDepth>0.003</minDepth>
    <sensor name="LFsrFL" type="contact">
      <always_on>1</always_on>
      <update_rate>20</update_rate>
      <visualize>false</visualize>
      <contact>
        <collision>LFsrFL_frame_collision</collision>
      </contact>
      <plugin filename="libgazebo_ros_bumper.so" name="gazebo_nao_LFsrFL">
        <robotNamespace>nao_robot</robotNamespace>
        <alwaysOn>true</alwaysOn>
        <bumperTopicName>FSR/LFoot/FrontLeft</bumperTopicName>
        <frameName>LFsrFL_frame</frameName>
      </plugin>
    </sensor>
  </gazebo>
  <gazebo reference="nao_2/LFsrFR_frame">
    <mu1>0.5</mu1>
    <mu2>0.5</mu2>
    <selfCollide>false</selfCollide>
    <turnGravityOff>false</turnGravityOff>
    <fdir1>1 0 0</fdir1>
    <maxVel>0.1</maxVel>
    <minDepth>0.003</minDepth>
    <sensor name="LFsrFR" type="contact">
      <always_on>1</always_on>
      <update_rate>20</update_rate>
      <visualize>false</visualize>
      <contact>
        <collision>LFsrFR_frame_collision</collision>
      </contact>
      <plugin filename="libgazebo_ros_bumper.so" name="gazebo_nao_ros_bumper">
        <robotNamespace>nao_robot</robotNamespace>
        <alwaysOn>true</alwaysOn>
        <bumperTopicName>FSR/LFoot/FrontRight</bumperTopicName>
        <frameName>LFsrFR_frame</frameName>
      </plugin>
    </sensor>
  </gazebo>
  <gazebo reference="nao_2/LFsrRL_frame">
    <mu1>0.5</mu1>
    <mu2>0.5</mu2>
    <selfCollide>false</selfCollide>
    <turnGravityOff>false</turnGravityOff>
    <fdir1>1 0 0</fdir1>
    <maxVel>0.1</maxVel>
    <minDepth>0.003</minDepth>
    <sensor name="LFsrRL" type="contact">
      <always_on>1</always_on>
      <update_rate>20</update_rate>
      <visualize>false</visualize>
      <contact>
        <collision>LFsrRL_frame_collision</collision>
      </contact>
      <plugin filename="libgazebo_ros_bumper.so" name="gazebo_nao_ros_bumper">
        <robotNamespace>nao_robot</robotNamespace>
        <alwaysOn>true</alwaysOn>
        <bumperTopicName>FSR/LFoot/RearLeft</bumperTopicName>
        <frameName>LFsrRL_frame</frameName>
      </plugin>
    </sensor>
  </gazebo>
  <gazebo reference="nao_2/LFsrRR_frame">
    <mu1>0.5</mu1>
    <mu2>0.5</mu2>
    <selfCollide>false</selfCollide>
    <turnGravityOff>false</turnGravityOff>
    <fdir1>1 0 0</fdir1>
    <maxVel>0.1</maxVel>
    <minDepth>0.003</minDepth>
    <sensor name="LFsrRR" type="contact">
      <always_on>1</always_on>
      <update_rate>20</update_rate>
      <visualize>false</visualize>
      <contact>
        <collision>LFsrRR_frame_collision</collision>
      </contact>
      <plugin filename="libgazebo_ros_bumper.so" name="gazebo_nao_ros_bumper">
        <robotNamespace>nao_robot</robotNamespace>
        <alwaysOn>true</alwaysOn>
        <bumperTopicName>FSR/LFoot/RearRight</bumperTopicName>
        <frameName>LFsrRR_frame</frameName>
      </plugin>
    </sensor>
  </gazebo>
  <!--
    Sonars
-->
  <gazebo reference="nao_2/LSonar_frame">
    <sensor name="LSonar" type="ray">
      <pose>0 0 0 0 0 0</pose>
      <update_rate>20</update_rate>
      <visualize>false</visualize>
      <ray>
        <scan>
          <horizontal>
            <samples>5</samples>
            <resolution>1</resolution>
            <min_angle>-0.2617993877991494</min_angle>
            <max_angle>0.2617993877991494</max_angle>
            <!--
          <min_angle>-0.10</min_angle>
          <max_angle>0.10</max_angle>
-->
          </horizontal>
          <vertical>
            <samples>5</samples>
            <resolution>1</resolution>
            <min_angle>-0.13</min_angle>
            <max_angle>0.13</max_angle>
            <!--
          <min_angle>-0.2617993877991494</min_angle>
          <max_angle>0.2617993877991494</max_angle>
-->
          </vertical>
        </scan>
        <range>
          <min>0.025</min>
          <max>2.55</max>
          <resolution>1</resolution>
        </range>
      </ray>
      <plugin filename="libgazebo_ros_range.so" name="gazebo_ros_range">
        <robotNamespace>nao_robot</robotNamespace>
        <gaussianNoise>0.05</gaussianNoise>
        <alwaysOn>true</alwaysOn>
        <updateRate>20</updateRate>
        <topicName>sonar_left</topicName>
        <frameName>LSonar_frame</frameName>
        <minRange>0.025</minRange>
        <maxRange>2.55</maxRange>
        <fov>0.5235987755982988</fov>
        <!--      <fov>0.1</fov> -->
        <radiation>ultrasound</radiation>
      </plugin>
    </sensor>
  </gazebo>
  <gazebo reference="nao_2/RSonar_frame">
    <sensor name="RSonar" type="ray">
      <pose>0 0 0 0 0 0</pose>
      <update_rate>20</update_rate>
      <visualize>false</visualize>
      <ray>
        <scan>
          <horizontal>
            <samples>5</samples>
            <resolution>1</resolution>
            <min_angle>-0.2617993877991494</min_angle>
            <max_angle>0.2617993877991494</max_angle>
          </horizontal>
          <vertical>
            <samples>5</samples>
            <resolution>1</resolution>
            <min_angle>-0.13</min_angle>
            <max_angle>0.13</max_angle>
          </vertical>
        </scan>
        <range>
          <min>0.025</min>
          <max>2.55</max>
          <resolution>1</resolution>
        </range>
      </ray>
      <plugin filename="libgazebo_ros_range.so" name="gazebo_ros_range">
        <robotNamespace>nao_robot</robotNamespace>
        <gaussianNoise>0.05</gaussianNoise>
        <alwaysOn>true</alwaysOn>
        <updateRate>20</updateRate>
        <topicName>sonar_right</topicName>
        <frameName>RSonar_frame</frameName>
        <minRange>0.025</minRange>
        <maxRange>2.55</maxRange>
        <fov>0.5235987755982988</fov>
        <radiation>ultrasound</radiation>
      </plugin>
    </sensor>
  </gazebo>
  <!-- HEAD -->
  <transmission name="HeadYaw_Transmission">
    <type>transmission_interface/SimpleTransmission</type>
    <joint name="nao_2/HeadYaw">
      <hardwareInterface>hardware_interface/PositionJointInterface</hardwareInterface>
    </joint>
    <actuator name="HeadYaw_Motor">
      <!-- Dummy Values -->
      <hardwareInterface>hardware_interface/PositionJointInterface</hardwareInterface>
      <mechanicalReduction>150.27</mechanicalReduction>
    </actuator>
  </transmission>
  <transmission name="HeadPitch_Transmission">
    <type>transmission_interface/SimpleTransmission</type>
    <joint name="nao_2/HeadPitch">
      <hardwareInterface>hardware_interface/PositionJointInterface</hardwareInterface>
    </joint>
    <actuator name="HeadPitch_Motor">
      <!-- Dummy Values -->
      <hardwareInterface>hardware_interface/PositionJointInterface</hardwareInterface>
      <mechanicalReduction>173.22</mechanicalReduction>
    </actuator>
  </transmission>
  <transmission name="LShoulderPitch_Transmission">
    <type>transmission_interface/SimpleTransmission</type>
    <joint name="nao_2/LShoulderPitch">
      <hardwareInterface>hardware_interface/PositionJointInterface</hardwareInterface>
    </joint>
    <actuator name="LShoulderPitch_Motor">
      <hardwareInterface>hardware_interface/PositionJointInterface</hardwareInterface>
      <mechanicalReduction>150.27</mechanicalReduction>
    </actuator>
  </transmission>
  <transmission name="LShoulderRoll_Transmission">
    <type>transmission_interface/SimpleTransmission</type>
    <joint name="nao_2/LShoulderRoll">
      <hardwareInterface>hardware_interface/PositionJointInterface</hardwareInterface>
    </joint>
    <actuator name="LShoulderRoll_Motor">
      <hardwareInterface>hardware_interface/PositionJointInterface</hardwareInterface>
      <mechanicalReduction>173.22</mechanicalReduction>
    </actuator>
  </transmission>
  <transmission name="LElbowYaw_Transmission">
    <type>transmission_interface/SimpleTransmission</type>
    <joint name="nao_2/LElbowYaw">
      <hardwareInterface>hardware_interface/PositionJointInterface</hardwareInterface>
    </joint>
    <actuator name="LElbowYaw_Motor">
      <hardwareInterface>hardware_interface/PositionJointInterface</hardwareInterface>
      <mechanicalReduction>150.27</mechanicalReduction>
    </actuator>
  </transmission>
  <transmission name="LElbowRoll_Transmission">
    <type>transmission_interface/SimpleTransmission</type>
    <joint name="nao_2/LElbowRoll">
      <hardwareInterface>hardware_interface/PositionJointInterface</hardwareInterface>
    </joint>
    <actuator name="LElbowRoll_Motor">
      <hardwareInterface>hardware_interface/PositionJointInterface</hardwareInterface>
      <mechanicalReduction>173.22</mechanicalReduction>
    </actuator>
  </transmission>
  <transmission name="LWristYaw_Transmission">
    <type>transmission_interface/SimpleTransmission</type>
    <joint name="nao_2/LWristYaw">
      <hardwareInterface>hardware_interface/PositionJointInterface</hardwareInterface>
    </joint>
    <actuator name="LWristYaw_Motor">
      <hardwareInterface>hardware_interface/PositionJointInterface</hardwareInterface>
      <mechanicalReduction>50.61</mechanicalReduction>
    </actuator>
  </transmission>
  <transmission name="LHand_Transmission">
    <type>transmission_interface/SimpleTransmission</type>
    <joint name="nao_2/LHand">
      <hardwareInterface>hardware_interface/PositionJointInterface</hardwareInterface>
    </joint>
    <actuator name="LHand_Motor">
      <hardwareInterface>hardware_interface/PositionJointInterface</hardwareInterface>
      <mechanicalReduction>36.24</mechanicalReduction>
    </actuator>
  </transmission>
  <transmission name="RShoulderPitch_Transmission">
    <type>transmission_interface/SimpleTransmission</type>
    <joint name="nao_2/RShoulderPitch">
      <hardwareInterface>hardware_interface/PositionJointInterface</hardwareInterface>
    </joint>
    <actuator name="RShoulderPitch_Motor">
      <hardwareInterface>hardware_interface/PositionJointInterface</hardwareInterface>
      <mechanicalReduction>150.27</mechanicalReduction>
    </actuator>
  </transmission>
  <transmission name="RShoulderRoll_Transmission">
    <type>transmission_interface/SimpleTransmission</type>
    <joint name="nao_2/RShoulderRoll">
      <hardwareInterface>hardware_interface/PositionJointInterface</hardwareInterface>
    </joint>
    <actuator name="RShoulderRoll_Motor">
      <hardwareInterface>hardware_interface/PositionJointInterface</hardwareInterface>
      <mechanicalReduction>173.22</mechanicalReduction>
    </actuator>
  </transmission>
  <transmission name="RElbowYaw_Transmission">
    <type>transmission_interface/SimpleTransmission</type>
    <joint name="nao_2/RElbowYaw">
      <hardwareInterface>hardware_interface/PositionJointInterface</hardwareInterface>
    </joint>
    <actuator name="RElbowYaw_Motor">
      <hardwareInterface>hardware_interface/PositionJointInterface</hardwareInterface>
      <mechanicalReduction>150.27</mechanicalReduction>
    </actuator>
  </transmission>
  <transmission name="RElbowRoll_Transmission">
    <type>transmission_interface/SimpleTransmission</type>
    <joint name="nao_2/RElbowRoll">
      <hardwareInterface>hardware_interface/PositionJointInterface</hardwareInterface>
    </joint>
    <actuator name="RElbowRoll_Motor">
      <hardwareInterface>hardware_interface/PositionJointInterface</hardwareInterface>
      <mechanicalReduction>173.22</mechanicalReduction>
    </actuator>
  </transmission>
  <transmission name="RWristYaw_Transmission">
    <type>transmission_interface/SimpleTransmission</type>
    <joint name="nao_2/RWristYaw">
      <hardwareInterface>hardware_interface/PositionJointInterface</hardwareInterface>
    </joint>
    <actuator name="RWristYaw_Motor">
      <hardwareInterface>hardware_interface/PositionJointInterface</hardwareInterface>
      <mechanicalReduction>50.61</mechanicalReduction>
    </actuator>
  </transmission>
  <transmission name="RHand_Transmission">
    <type>transmission_interface/SimpleTransmission</type>
    <joint name="nao_2/RHand">
      <hardwareInterface>hardware_interface/PositionJointInterface</hardwareInterface>
    </joint>
    <actuator name="RHand_Motor">
      <hardwareInterface>hardware_interface/PositionJointInterface</hardwareInterface>
      <mechanicalReduction>36.24</mechanicalReduction>
    </actuator>
  </transmission>
  <transmission name="LHipYawPitch_Transmission">
    <type>transmission_interface/SimpleTransmission</type>
    <joint name="nao_2/LHipYawPitch">
      <hardwareInterface>hardware_interface/PositionJointInterface</hardwareInterface>
    </joint>
    <actuator name="LHipYawPitch_Motor">
      <!-- Dummy Values -->
      <hardwareInterface>hardware_interface/PositionJointInterface</hardwareInterface>
      <mechanicalReduction>201.3</mechanicalReduction>
    </actuator>
  </transmission>
  <transmission name="LHipRoll_Transmission">
    <type>transmission_interface/SimpleTransmission</type>
    <joint name="nao_2/LHipRoll">
      <hardwareInterface>hardware_interface/PositionJointInterface</hardwareInterface>
    </joint>
    <actuator name="LHipRoll_Motor">
      <!-- Dummy Values -->
      <hardwareInterface>hardware_interface/PositionJointInterface</hardwareInterface>
      <mechanicalReduction>201.3</mechanicalReduction>
    </actuator>
  </transmission>
  <transmission name="LHipPitch_Transmission">
    <type>transmission_interface/SimpleTransmission</type>
    <joint name="nao_2/LHipPitch">
      <hardwareInterface>hardware_interface/PositionJointInterface</hardwareInterface>
    </joint>
    <actuator name="LHipPitch_Motor">
      <!-- Dummy Values -->
      <hardwareInterface>hardware_interface/PositionJointInterface</hardwareInterface>
      <mechanicalReduction>130.85</mechanicalReduction>
    </actuator>
  </transmission>
  <transmission name="LKneePitch_Transmission">
    <type>transmission_interface/SimpleTransmission</type>
    <joint name="nao_2/LKneePitch">
      <hardwareInterface>hardware_interface/PositionJointInterface</hardwareInterface>
    </joint>
    <actuator name="LKneePitch_Motor">
      <!-- Dummy Values -->
      <hardwareInterface>hardware_interface/PositionJointInterface</hardwareInterface>
      <mechanicalReduction>130.85</mechanicalReduction>
    </actuator>
  </transmission>
  <transmission name="LAnklePitch_Transmission">
    <type>transmission_interface/SimpleTransmission</type>
    <joint name="nao_2/LAnklePitch">
      <hardwareInterface>hardware_interface/PositionJointInterface</hardwareInterface>
    </joint>
    <actuator name="LAnklePitch_Motor">
      <!-- Dummy Values -->
      <hardwareInterface>hardware_interface/PositionJointInterface</hardwareInterface>
      <mechanicalReduction>130.85</mechanicalReduction>
    </actuator>
  </transmission>
  <transmission name="LAnkleRoll_Transmission">
    <type>transmission_interface/SimpleTransmission</type>
    <joint name="nao_2/LAnkleRoll">
      <hardwareInterface>hardware_interface/PositionJointInterface</hardwareInterface>
    </joint>
    <actuator name="LAnkleRoll_Motor">
      <!-- Dummy Values -->
      <hardwareInterface>hardware_interface/PositionJointInterface</hardwareInterface>
      <mechanicalReduction>201.3</mechanicalReduction>
    </actuator>
  </transmission>
  <transmission name="RHipYawPitch_Transmission">
    <type>transmission_interface/SimpleTransmission</type>
    <joint name="nao_2/RHipYawPitch">
      <hardwareInterface>hardware_interface/PositionJointInterface</hardwareInterface>
    </joint>
    <actuator name="RHipYawPitch_Motor">
      <!-- Dummy Values -->
      <hardwareInterface>hardware_interface/PositionJointInterface</hardwareInterface>
      <mechanicalReduction>201.3</mechanicalReduction>
    </actuator>
  </transmission>
  <transmission name="RHipRoll_Transmission">
    <type>transmission_interface/SimpleTransmission</type>
    <joint name="nao_2/RHipRoll">
      <hardwareInterface>hardware_interface/PositionJointInterface</hardwareInterface>
    </joint>
    <actuator name="RHipRoll_Motor">
      <!-- Dummy Values -->
      <hardwareInterface>hardware_interface/PositionJointInterface</hardwareInterface>
      <mechanicalReduction>201.3</mechanicalReduction>
    </actuator>
  </transmission>
  <transmission name="RHipPitch_Transmission">
    <type>transmission_interface/SimpleTransmission</type>
    <joint name="nao_2/RHipPitch">
      <hardwareInterface>hardware_interface/PositionJointInterface</hardwareInterface>
    </joint>
    <actuator name="RHipPitch_Motor">
      <!-- Dummy Values -->
      <hardwareInterface>hardware_interface/PositionJointInterface</hardwareInterface>
      <mechanicalReduction>130.85</mechanicalReduction>
    </actuator>
  </transmission>
  <transmission name="RKneePitch_Transmission">
    <type>transmission_interface/SimpleTransmission</type>
    <joint name="nao_2/RKneePitch">
      <hardwareInterface>hardware_interface/PositionJointInterface</hardwareInterface>
    </joint>
    <actuator name="RKneePitch_Motor">
      <!-- Dummy Values -->
      <hardwareInterface>hardware_interface/PositionJointInterface</hardwareInterface>
      <mechanicalReduction>130.85</mechanicalReduction>
    </actuator>
  </transmission>
  <transmission name="RAnklePitch_Transmission">
    <type>transmission_interface/SimpleTransmission</type>
    <joint name="nao_2/RAnklePitch">
      <hardwareInterface>hardware_interface/PositionJointInterface</hardwareInterface>
    </joint>
    <actuator name="RAnklePitch_Motor">
      <!-- Dummy Values -->
      <hardwareInterface>hardware_interface/PositionJointInterface</hardwareInterface>
      <mechanicalReduction>130.85</mechanicalReduction>
    </actuator>
  </transmission>
  <transmission name="RAnkleRoll_Transmission">
    <type>transmission_interface/SimpleTransmission</type>
    <joint name="nao_2/RAnkleRoll">
      <hardwareInterface>hardware_interface/PositionJointInterface</hardwareInterface>
    </joint>
    <actuator name="RAnkleRoll_Motor">
      <!-- Dummy Values -->
      <hardwareInterface>hardware_interface/PositionJointInterface</hardwareInterface>
      <mechanicalReduction>201.3</mechanicalReduction>
    </actuator>
  </transmission>
  <transmission name="wheel_ll_joint_trans">
    <type>transmission_interface/SimpleTransmission</type>
    <joint name="nao_2/left_wheel_joint_l">
      <hardwareInterface>hardware_interface/VelocityJointInterface</hardwareInterface>
    </joint>
    <actuator name="left_motor">
      <hardwareInterface>hardware_interface/VelocityJointInterface</hardwareInterface>
      <mechanicalReduction>50.61</mechanicalReduction>
    </actuator>
  </transmission>
  <transmission name="wheel_lr_joint_trans">
    <type>transmission_interface/SimpleTransmission</type>
    <joint name="nao_2/left_wheel_joint_r">
      <hardwareInterface>hardware_interface/VelocityJointInterface</hardwareInterface>
    </joint>
    <actuator name="left_motor">
      <hardwareInterface>hardware_interface/VelocityJointInterface</hardwareInterface>
      <mechanicalReduction>50.61</mechanicalReduction>
    </actuator>
  </transmission>
  <transmission name="front_wheel_ll_joint_trans">
    <type>transmission_interface/SimpleTransmission</type>
    <joint name="nao_2/front_left_wheel_joint_l">
      <hardwareInterface>hardware_interface/VelocityJointInterface</hardwareInterface>
    </joint>
    <actuator name="front_left_motor">
      <hardwareInterface>hardware_interface/VelocityJointInterface</hardwareInterface>
      <mechanicalReduction>50.61</mechanicalReduction>
    </actuator>
  </transmission>
  <transmission name="front_wheel_lr_joint_trans">
    <type>transmission_interface/SimpleTransmission</type>
    <joint name="nao_2/front_left_wheel_joint_r">
      <hardwareInterface>hardware_interface/VelocityJointInterface</hardwareInterface>
    </joint>
    <actuator name="front_left_motor">
      <hardwareInterface>hardware_interface/VelocityJointInterface</hardwareInterface>
      <mechanicalReduction>50.61</mechanicalReduction>
    </actuator>
  </transmission>
  <transmission name="wheel_rl_joint_trans">
    <type>transmission_interface/SimpleTransmission</type>
    <joint name="nao_2/right_wheel_joint_l">
      <hardwareInterface>hardware_interface/VelocityJointInterface</hardwareInterface>
    </joint>
    <actuator name="right_motor">
      <hardwareInterface>hardware_interface/VelocityJointInterface</hardwareInterface>
      <mechanicalReduction>50.61</mechanicalReduction>
    </actuator>
  </transmission>
  <transmission name="wheel_rr_joint_trans">
    <type>transmission_interface/SimpleTransmission</type>
    <joint name="nao_2/right_wheel_joint_r">
      <hardwareInterface>hardware_interface/VelocityJointInterface</hardwareInterface>
    </joint>
    <actuator name="right_motor">
      <hardwareInterface>hardware_interface/VelocityJointInterface</hardwareInterface>
      <mechanicalReduction>50.61</mechanicalReduction>
    </actuator>
  </transmission>
  <transmission name="front_wheel_rl_joint_trans">
    <type>transmission_interface/SimpleTransmission</type>
    <joint name="nao_2/front_right_wheel_joint_l">
      <hardwareInterface>hardware_interface/VelocityJointInterface</hardwareInterface>
    </joint>
    <actuator name="front_right_motor">
      <hardwareInterface>hardware_interface/VelocityJointInterface</hardwareInterface>
      <mechanicalReduction>50.61</mechanicalReduction>
    </actuator>
  </transmission>
  <transmission name="front_wheel_rr_joint_trans">
    <type>transmission_interface/SimpleTransmission</type>
    <joint name="nao_2/front_right_wheel_joint_r">
      <hardwareInterface>hardware_interface/VelocityJointInterface</hardwareInterface>
    </joint>
    <actuator name="front_right_motor">
      <hardwareInterface>hardware_interface/VelocityJointInterface</hardwareInterface>
      <mechanicalReduction>50.61</mechanicalReduction>
    </actuator>
  </transmission>
</robot>
